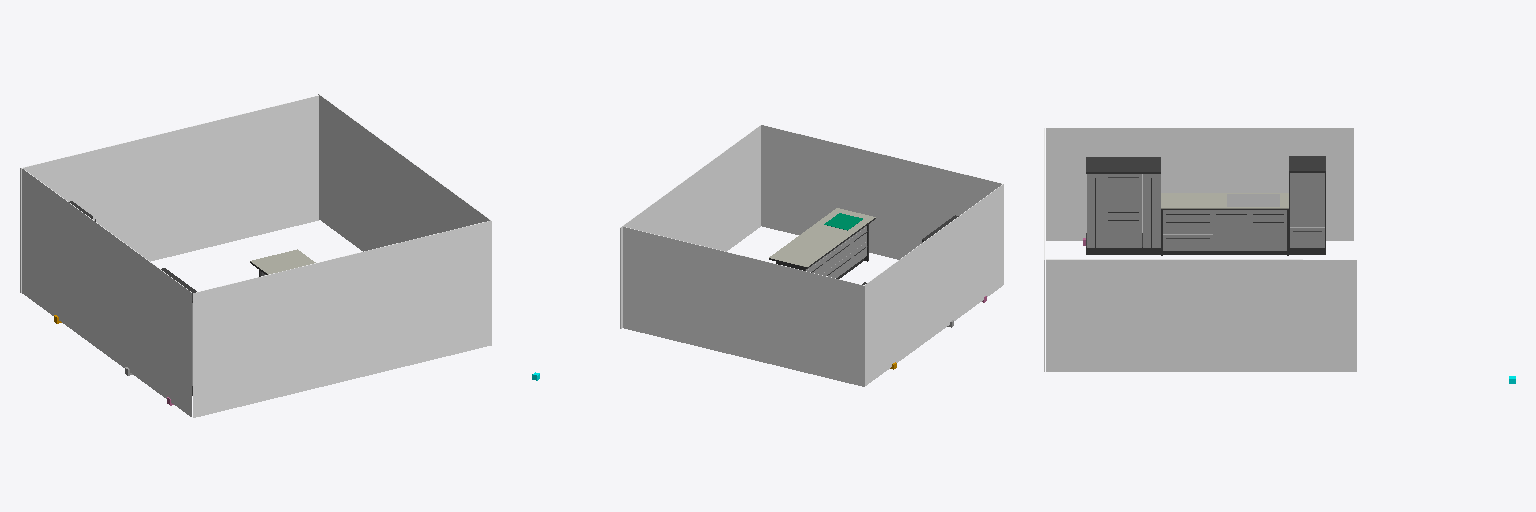
--- Render facts (derived) ---
3 views of the same robot in one strip: view 1: azimuth 30°, elevation 25°; view 2: azimuth 150°, elevation 25°; view 3: azimuth 270°, elevation 25° (orthographic).
Model kitchen with 173 links and 172 joints (1 revolute, 21 prismatic, 150 fixed), rooted at kitchen_link, posed all joints at 0.
Links seen in each view (by area): view 1: kitchen_wall_south, kitchen_wall_north, kitchen_wall_west, kitchen_wall_east_1, white_counter_top_island_link; view 2: kitchen_wall_north, kitchen_wall_south, kitchen_wall_west, kitchen_wall_east_1, white_counter_top_island_link; view 3: kitchen_wall_east_1, kitchen_wall_west, fridge_link, drawer_sink_col2_link, white_counter_top_sink_link, counter_top_oven_link, drawer_oven_left_link, drawer_oven_right_link, drawer_oven_oven_link, drawer_sink_col3_bottom_link, drawer_oven_bottom_link, drawer_sink_col1_bottom_link (+5 smaller).
Link boxes in pixels (<box>): kitchen_wall_south: <box>193,221,491,417</box>; kitchen_wall_north: <box>20,95,318,292</box>; kitchen_wall_west: <box>22,168,191,416</box>; kitchen_wall_east_1: <box>318,94,490,251</box>; white_counter_top_island_link: <box>250,249,315,274</box>; kitchen_wall_north: <box>623,227,864,386</box>; kitchen_wall_south: <box>761,125,1003,284</box>; kitchen_wall_west: <box>864,184,1002,385</box>; kitchen_wall_east_1: <box>620,125,760,328</box>; white_counter_top_island_link: <box>769,208,875,266</box>; kitchen_wall_east_1: <box>1046,259,1356,371</box>; kitchen_wall_west: <box>1046,128,1353,240</box>; fridge_link: <box>1290,173,1324,226</box>; drawer_sink_col2_link: <box>1213,210,1249,250</box>; white_counter_top_sink_link: <box>1161,193,1288,208</box>; counter_top_oven_link: <box>1086,157,1160,173</box>; drawer_oven_left_link: <box>1087,174,1104,247</box>; drawer_oven_right_link: <box>1143,174,1160,247</box>; drawer_oven_oven_link: <box>1105,174,1141,207</box>; drawer_sink_col3_bottom_link: <box>1250,218,1286,250</box>; drawer_oven_bottom_link: <box>1105,216,1141,247</box>; drawer_sink_col1_bottom_link: <box>1163,234,1212,250</box>.
Size in the robot's own frame: 5.39 by 7.58 by 2.05 metres.
Geometry: primitives only (box / cylinder / sphere), no mesh files.

URDF robot description (kitchen):
<?xml version="1.0" ?>
<!-- =================================================================================== -->
<!-- |    This document was autogenerated by xacro from room/kitchen_area.urdf.xml     | -->
<!-- |    EDITING THIS FILE BY HAND IS NOT RECOMMENDED                                 | -->
<!-- =================================================================================== -->
<robot name="kitchen" xmlns:controller="http://playerstage.sourceforge.net/gazebo/xmlschema/#controller" xmlns:interface="http://playerstage.sourceforge.net/gazebo/xmlschema/#interface" xmlns:sensor="http://playerstage.sourceforge.net/gazebo/xmlschema/#sensor" xmlns:xacro="http://www.ros.org/wiki/xacro">
  <material name="KitchenWhite">
    <color rgba="0.75 0.75 0.7 1.0"/>
  </material>
  <material name="KitchenDarkGray">
    <color rgba="0.3 0.3 0.3 1.0"/>
  </material>
  <material name="KitchenLightGray">
    <color rgba="0.7 0.7 0.7 1.0"/>
  </material>
  <material name="KitchenWallWhite">
    <color rgba="1.0 1.0 1.0 1.0"/>
  </material>
  <material name="KitchenSink">
    <texture filename="package://iai_maps/Media/materials/textures/sink.png"/>
  </material>
  <material name="KitchenStove">
    <texture filename="package://iai_maps/Media/materials/textures/stove.png"/>
  </material>
  
  <!-- This is the top level joint /tf frame. -->
  
  <link name="kitchen_link">
  <visual>
     <origin xyz="0 0 0" rpy="0 0 0" />
     <geometry>
       <box size="0.1 0.1 0.1" />
     </geometry>
     <material name="Cyan">
       <color rgba="0 1.0 1.0 1.0"/>
     </material>
   </visual>
  </link>
  
  <joint name="kitchen_link_map_joint" type="fixed">
    <origin rpy="0 0 0" xyz="0 0 0"/>
    <parent link="kitchen_link"/>
    <child link="map"/>
  </joint>
  
  <link name="map">
  <visual>
     <origin xyz="-3.45 -4.35 0" rpy="0 0 -3.1415" />
     <geometry>
       <box size="0.1 0.1 0.1" />
     </geometry>
     <material name="Cyan">
       <color rgba="0 1.0 1.0 1.0"/>
     </material>
   </visual>
  </link>
  
  <!-- Finally, the 5 main blocks of the kitchen -->
  <joint name="island_block_stove_joint" type="fixed">
    <origin rpy="0 0 0" xyz="0 0 0"/>
    <parent link="island_block_link"/>
    <child link="stove_link"/>
  </joint>
  <link name="stove_link">
    <inertial>
      <mass value="1.0"/>
      <inertia ixx="0.0270770833333" ixy="0" ixz="0" iyy="0.0479083333333" iyz="0" izz="0.0208354166667"/>
    </inertial>
    <visual>
      <origin rpy="0 0 0" xyz=".30 1.895 .8525"/>
      <geometry>
        <box size=".50 .57 0.005"/>
      </geometry>
      <material name="KitchenStove"/>
    </visual>
    <collision>
      <origin rpy="0 0 0" xyz=".30 1.895 .8525"/>
      <geometry>
        <box size=".50 .57 0.005"/>
      </geometry>
    </collision>
  </link>
  <gazebo reference="stove_link">
    <material value="Ias/KitchenStove"/>
  </gazebo>
  <joint name="island_block_counter_side_island_left_joint" type="fixed">
    <origin rpy="0 0 0" xyz="0.3 0.015 0.41"/>
    <parent link="island_block_link"/>
    <child link="counter_side_island_left_link"/>
  </joint>
  <link name="counter_side_island_left_link">
    <inertial>
      <mass value="2.0"/>
      <inertia ixx="0.112216666667" ixy="0" ixz="0" iyy="0.06015" iyz="0" izz="0.172066666667"/>
    </inertial>
    <visual>
      <origin rpy="0 0 0" xyz="0 0 0"/>
      <geometry>
        <box size="0.6 0.03 0.82"/>
      </geometry>
      <material name="KitchenDarkGray"/>
    </visual>
    <collision>
      <origin rpy="0 0 0" xyz="0 0 0"/>
      <geometry>
        <box size="0.6 0.03 0.82"/>
      </geometry>
    </collision>
  </link>
  <gazebo reference="counter_side_island_left_link">
    <material value="Ias/KitchenDarkGray"/>
  </gazebo>
  <joint name="island_block_counter_side_island_right_joint" type="fixed">
    <origin rpy="0 0 0" xyz="0.3 2.245 0.41"/>
    <parent link="island_block_link"/>
    <child link="counter_side_island_right_link"/>
  </joint>
  <link name="counter_side_island_right_link">
    <inertial>
      <mass value="2.0"/>
      <inertia ixx="0.112216666667" ixy="0" ixz="0" iyy="0.06015" iyz="0" izz="0.172066666667"/>
    </inertial>
    <visual>
      <origin rpy="0 0 0" xyz="0 0 0"/>
      <geometry>
        <box size="0.6 0.03 0.82"/>
      </geometry>
      <material name="KitchenDarkGray"/>
    </visual>
    <collision>
      <origin rpy="0 0 0" xyz="0 0 0"/>
      <geometry>
        <box size="0.6 0.03 0.82"/>
      </geometry>
    </collision>
  </link>
  <gazebo reference="counter_side_island_right_link">
    <material value="Ias/KitchenDarkGray"/>
  </gazebo>
  <joint name="island_block_counter_side_island_back_joint" type="fixed">
    <origin rpy="0 0 0" xyz="0.01 1.13 0.41"/>
    <parent link="island_block_link"/>
    <child link="counter_side_island_back_link"/>
  </joint>
  <link name="counter_side_island_back_link">
    <inertial>
      <mass value="2.0"/>
      <inertia ixx="0.918733333333" ixy="0" ixz="0" iyy="0.806733333333" iyz="0" izz="0.112133333333"/>
    </inertial>
    <visual>
      <origin rpy="0 0 0" xyz="0 0 0"/>
      <geometry>
        <box size="0.02 2.2 0.82"/>
      </geometry>
      <material name="KitchenDarkGray"/>
    </visual>
    <collision>
      <origin rpy="0 0 0" xyz="0 0 0"/>
      <geometry>
        <box size="0.02 2.2 0.82"/>
      </geometry>
    </collision>
  </link>
  <gazebo reference="counter_side_island_back_link">
    <material value="Ias/KitchenDarkGray"/>
  </gazebo>
  <joint name="island_block_counter_top_island_joint" type="fixed">
    <origin rpy="0 0 0" xyz="0.3 1.125 0.835"/>
    <parent link="island_block_link"/>
    <child link="counter_top_island_link"/>
  </joint>
  <link name="counter_top_island_link">
    <inertial>
      <mass value="2.0"/>
      <inertia ixx="1.00056666667" ixy="0" ixz="0" iyy="1.10708333333" iyz="0" izz="0.106816666667"/>
    </inertial>
    <visual>
      <origin rpy="0 0 0" xyz="0 0 0"/>
      <geometry>
        <box size="0.8 2.45 0.03"/>
      </geometry>
      <material name="KitchenDarkGray"/>
    </visual>
    <collision>
      <origin rpy="0 0 0" xyz="0 0 0"/>
      <geometry>
        <box size="0.8 2.45 0.03"/>
      </geometry>
    </collision>
  </link>
  <gazebo reference="counter_top_island_link">
    <kp>100000</kp>
    <kd>1000000</kd>
    <mu1>50000</mu1>
    <mu2>50000</mu2>
    <material value="Ias/KitchenDarkGray"/>
  </gazebo>
  <joint name="island_block_white_counter_top_island_joint" type="fixed">
    <origin rpy="0 0 0" xyz="0.3 1.125 0.851"/>
    <parent link="island_block_link"/>
    <child link="white_counter_top_island_link"/>
  </joint>
  <link name="white_counter_top_island_link">
    <inertial>
      <mass value="2.0"/>
      <inertia ixx="1.00041733333" ixy="0" ixz="0" iyy="1.10708333333" iyz="0" izz="0.106667333333"/>
    </inertial>
    <visual>
      <origin rpy="0 0 0" xyz="0 0 0"/>
      <geometry>
        <box size="0.8 2.45 0.002"/>
      </geometry>
      <material name="KitchenWhite"/>
    </visual>
    <collision>
      <origin rpy="0 0 0" xyz="0 0 0"/>
      <geometry>
        <box size="0.8 2.45 0.002"/>
      </geometry>
    </collision>
  </link>
  <gazebo reference="white_counter_top_island_link">
    <kp>100000</kp>
    <kd>1000000</kd>
    <mu1>50000</mu1>
    <mu2>50000</mu2>
    <material value="Ias/KitchenWhite"/>
  </gazebo>
  <joint name="island_block_drawer_island_col1_bottom_fixed_joint" type="fixed">
    <origin rpy="0 0 0" xyz="0.57 0.33 0.245"/>
    <parent link="island_block_link"/>
    <child link="drawer_island_col1_bottom_fixed_link"/>
  </joint>
  <link name="drawer_island_col1_bottom_fixed_link">
    <inertial>
      <mass value="1"/>
      <inertia ixx="4e-07" ixy="0" ixz="0" iyy="4e-07" iyz="0" izz="4e-07"/>
    </inertial>
  </link>
  <joint name="island_block_drawer_island_col1_bottom_joint" type="prismatic">
    <origin rpy="0 0 0" xyz="0 0 0"/>
    <parent link="drawer_island_col1_bottom_fixed_link"/>
    <child link="drawer_island_col1_bottom_link"/>
    <axis xyz="0.999 0 0.044"/>
    <!-- the axis needs to be slightly tilted so that the drawers would stay closed in Gazebo-->
    <limit effort="300" lower="0" upper="0.48" velocity="10"/>
  </joint>
  <gazebo reference="island_block_drawer_island_col1_bottom_joint">
    <erp>0.8</erp>
    <cfm>0.0000001</cfm>
    <stopKp>1000000.0</stopKp>
    <stopKd>1.0</stopKd>
  </gazebo>
  <link name="drawer_island_col1_bottom_link">
    <inertial>
      <mass value="1.0"/>
      <inertia ixx="0.0370083333333" ixy="0" ixz="0" iyy="0.0300333333333" iyz="0" izz="0.00704166666667"/>
    </inertial>
    <visual>
      <origin rpy="0 0 0" xyz="0 0 0"/>
      <geometry>
        <box size="0.02 0.595 0.285"/>
      </geometry>
      <material name="KitchenLightGray"/>
    </visual>
    <collision>
      <origin rpy="0 0 0" xyz="0 0 0"/>
      <geometry>
        <box size="0.02 0.6 0.29"/>
      </geometry>
    </collision>
  </link>
  <gazebo reference="drawer_island_col1_bottom_link">
    <material value="Ias/KitchenLightGray"/>
  </gazebo>
  <joint name="drawer_island_col1_bottom_left_fixed_joint" type="fixed">
    <origin rpy="0 0 0" xyz="0 0 0"/>
    <parent link="drawer_island_col1_bottom_link"/>
    <child link="drawer_island_col1_bottom_left_link"/>
  </joint>
  <link name="drawer_island_col1_bottom_left_link">
    <inertial>
      <mass value="1.0"/>
      <inertia ixx="0.00483333333333" ixy="0" ixz="0" iyy="0.0243333333333" iyz="0" izz="0.0291"/>
    </inertial>
    <visual>
      <origin rpy="0 0 0" xyz="-0.27 -0.24 0"/>
      <geometry>
        <box size="0.54 0.02 0.24"/>
      </geometry>
      <material name="KitchenDarkGray"/>
    </visual>
    <collision>
      <origin rpy="0 0 0" xyz="-0.27 -0.24 0"/>
      <geometry>
        <box size="0.54 0.02 0.24"/>
      </geometry>
    </collision>
  </link>
  <gazebo reference="drawer_island_col1_bottom_left_link">
    <material value="Ias/KitchenLightGray"/>
  </gazebo>
  <joint name="drawer_island_col1_bottom_right_fixed_joint" type="fixed">
    <origin rpy="0 0 0" xyz="0 0 0"/>
    <parent link="drawer_island_col1_bottom_link"/>
    <child link="drawer_island_col1_bottom_right_link"/>
  </joint>
  <link name="drawer_island_col1_bottom_right_link">
    <inertial>
      <mass value="1.0"/>
      <inertia ixx="0.00483333333333" ixy="0" ixz="0" iyy="0.0243333333333" iyz="0" izz="0.0291"/>
    </inertial>
    <visual>
      <origin rpy="0 0 0" xyz="-0.27 0.24 0"/>
      <geometry>
        <box size="0.54 0.02 0.24"/>
      </geometry>
      <material name="KitchenDarkGray"/>
    </visual>
    <collision>
      <origin rpy="0 0 0" xyz="-0.27 0.24 0"/>
      <geometry>
        <box size="0.54 0.02 0.24"/>
      </geometry>
    </collision>
  </link>
  <gazebo reference="drawer_island_col1_bottom_right_link">
    <material value="Ias/KitchenLightGray"/>
  </gazebo>
  <joint name="drawer_island_col1_bottom_back_fixed_joint" type="fixed">
    <origin rpy="0 0 0" xyz="0 0 0"/>
    <parent link="drawer_island_col1_bottom_link"/>
    <child link="drawer_island_col1_bottom_back_link"/>
  </joint>
  <link name="drawer_island_col1_bottom_back_link">
    <inertial>
      <mass value="1.0"/>
      <inertia ixx="0.0256333333333" ixy="0" ixz="0" iyy="0.0208666666667" iyz="0" izz="0.00483333333333"/>
    </inertial>
    <visual>
      <origin rpy="0 0 0" xyz="-0.54 0 0"/>
      <geometry>
        <box size="0.02 0.5 0.24"/>
      </geometry>
      <material name="KitchenDarkGray"/>
    </visual>
    <collision>
      <origin rpy="0 0 0" xyz="-0.54 0 0"/>
      <geometry>
        <box size="0.02 0.5 0.24"/>
      </geometry>
    </collision>
  </link>
  <gazebo reference="drawer_island_col1_bottom_back_link">
    <material value="Ias/KitchenLightGray"/>
  </gazebo>
  <joint name="drawer_island_col1_bottom_bottom_fixed_joint" type="fixed">
    <origin rpy="0 0 0" xyz="0 0 0"/>
    <parent link="drawer_island_col1_bottom_link"/>
    <child link="drawer_island_col1_bottom_bottom_link"/>
  </joint>
  <link name="drawer_island_col1_bottom_bottom_link">
    <inertial>
      <mass value="1.0"/>
      <inertia ixx="0.0208666666667" ixy="0" ixz="0" iyy="0.0451333333333" iyz="0" izz="0.0243333333333"/>
    </inertial>
    <visual>
      <origin rpy="0 0 0" xyz="-0.27 0 -0.11"/>
      <geometry>
        <box size="0.54 0.5 0.02"/>
      </geometry>
      <material name="KitchenDarkGray"/>
    </visual>
    <collision>
      <origin rpy="0 0 0" xyz="-0.27 0 -0.11"/>
      <geometry>
        <box size="0.54 0.5 0.02"/>
      </geometry>
    </collision>
  </link>
  <gazebo reference="drawer_island_col1_bottom_bottom_link">
    <material value="Ias/KitchenLightGray"/>
  </gazebo>
  <joint name="drawer_island_col1_bottom_handle_drawer_island_col1_bottom_joint" type="fixed">
    <origin rpy="0 0 0" xyz="0.0625 0.0 0.0925"/>
    <parent link="drawer_island_col1_bottom_link"/>
    <child link="handle_drawer_island_col1_bottom_link"/>
  </joint>
  <link name="handle_drawer_island_col1_bottom_link">
    <inertial>
      <mass value="0.1"/>
      <inertia ixx="0.00212604166667" ixy="0" ixz="0" iyy="0.00212604166667" iyz="0" izz="1.66666666667e-06"/>
    </inertial>
    <visual>
      <origin rpy="0 0 0" xyz="0 0 0"/>
      <geometry>
        <box size="0.01 0.505 0.01"/>
      </geometry>
      <material name="KitchenDarkGray"/>
    </visual>
    <collision>
      <origin rpy="0 0 0" xyz="0 0 0"/>
      <geometry>
        <box size="0.015 0.51 0.015"/>
      </geometry>
    </collision>
  </link>
  <gazebo reference="handle_drawer_island_col1_bottom_link">
    <material value="Ias/KitchenDarkGray"/>
  </gazebo>
  <joint name="island_block_drawer_island_col1_center_fixed_joint" type="fixed">
    <origin rpy="0 0 0" xyz="0.57 0.33 0.535"/>
    <parent link="island_block_link"/>
    <child link="drawer_island_col1_center_fixed_link"/>
  </joint>
  <link name="drawer_island_col1_center_fixed_link">
    <inertial>
      <mass value="1"/>
      <inertia ixx="4e-07" ixy="0" ixz="0" iyy="4e-07" iyz="0" izz="4e-07"/>
    </inertial>
  </link>
  <joint name="island_block_drawer_island_col1_center_joint" type="prismatic">
    <origin rpy="0 0 0" xyz="0 0 0"/>
    <parent link="drawer_island_col1_center_fixed_link"/>
    <child link="drawer_island_col1_center_link"/>
    <axis xyz="0.999 0 0.044"/>
    <!-- the axis needs to be slightly tilted so that the drawers would stay closed in Gazebo-->
    <limit effort="300" lower="0" upper="0.48" velocity="10"/>
  </joint>
  <gazebo reference="island_block_drawer_island_col1_center_joint">
    <erp>0.8</erp>
    <cfm>0.0000001</cfm>
    <stopKp>1000000.0</stopKp>
    <stopKd>1.0</stopKd>
  </gazebo>
  <link name="drawer_island_col1_center_link">
    <inertial>
      <mass value="1.0"/>
      <inertia ixx="0.0370083333333" ixy="0" ixz="0" iyy="0.0300333333333" iyz="0" izz="0.00704166666667"/>
    </inertial>
    <visual>
      <origin rpy="0 0 0" xyz="0 0 0"/>
      <geometry>
        <box size="0.02 0.595 0.285"/>
      </geometry>
      <material name="KitchenLightGray"/>
    </visual>
    <collision>
      <origin rpy="0 0 0" xyz="0 0 0"/>
      <geometry>
        <box size="0.02 0.6 0.29"/>
      </geometry>
    </collision>
  </link>
  <gazebo reference="drawer_island_col1_center_link">
    <material value="Ias/KitchenLightGray"/>
  </gazebo>
  <joint name="drawer_island_col1_center_left_fixed_joint" type="fixed">
    <origin rpy="0 0 0" xyz="0 0 0"/>
    <parent link="drawer_island_col1_center_link"/>
    <child link="drawer_island_col1_center_left_link"/>
  </joint>
  <link name="drawer_island_col1_center_left_link">
    <inertial>
      <mass value="1.0"/>
      <inertia ixx="0.00483333333333" ixy="0" ixz="0" iyy="0.0243333333333" iyz="0" izz="0.0291"/>
    </inertial>
    <visual>
      <origin rpy="0 0 0" xyz="-0.27 -0.24 0"/>
      <geometry>
        <box size="0.54 0.02 0.24"/>
      </geometry>
      <material name="KitchenDarkGray"/>
    </visual>
    <collision>
      <origin rpy="0 0 0" xyz="-0.27 -0.24 0"/>
      <geometry>
        <box size="0.54 0.02 0.24"/>
      </geometry>
    </collision>
  </link>
  <gazebo reference="drawer_island_col1_center_left_link">
    <material value="Ias/KitchenLightGray"/>
  </gazebo>
  <joint name="drawer_island_col1_center_right_fixed_joint" type="fixed">
    <origin rpy="0 0 0" xyz="0 0 0"/>
    <parent link="drawer_island_col1_center_link"/>
    <child link="drawer_island_col1_center_right_link"/>
  </joint>
  <link name="drawer_island_col1_center_right_link">
    <inertial>
      <mass value="1.0"/>
      <inertia ixx="0.00483333333333" ixy="0" ixz="0" iyy="0.0243333333333" iyz="0" izz="0.0291"/>
    </inertial>
    <visual>
      <origin rpy="0 0 0" xyz="-0.27 0.24 0"/>
      <geometry>
        <box size="0.54 0.02 0.24"/>
      </geometry>
      <material name="KitchenDarkGray"/>
    </visual>
    <collision>
      <origin rpy="0 0 0" xyz="-0.27 0.24 0"/>
      <geometry>
        <box size="0.54 0.02 0.24"/>
      </geometry>
    </collision>
  </link>
  <gazebo reference="drawer_island_col1_center_right_link">
    <material value="Ias/KitchenLightGray"/>
  </gazebo>
  <joint name="drawer_island_col1_center_back_fixed_joint" type="fixed">
    <origin rpy="0 0 0" xyz="0 0 0"/>
    <parent link="drawer_island_col1_center_link"/>
    <child link="drawer_island_col1_center_back_link"/>
  </joint>
  <link name="drawer_island_col1_center_back_link">
    <inertial>
      <mass value="1.0"/>
      <inertia ixx="0.0256333333333" ixy="0" ixz="0" iyy="0.0208666666667" iyz="0" izz="0.00483333333333"/>
    </inertial>
    <visual>
      <origin rpy="0 0 0" xyz="-0.54 0 0"/>
      <geometry>
        <box size="0.02 0.5 0.24"/>
      </geometry>
      <material name="KitchenDarkGray"/>
    </visual>
    <collision>
      <origin rpy="0 0 0" xyz="-0.54 0 0"/>
      <geometry>
        <box size="0.02 0.5 0.24"/>
      </geometry>
    </collision>
  </link>
  <gazebo reference="drawer_island_col1_center_back_link">
    <material value="Ias/KitchenLightGray"/>
  </gazebo>
  <joint name="drawer_island_col1_center_bottom_fixed_joint" type="fixed">
    <origin rpy="0 0 0" xyz="0 0 0"/>
    <parent link="drawer_island_col1_center_link"/>
    <child link="drawer_island_col1_center_bottom_link"/>
  </joint>
  <link name="drawer_island_col1_center_bottom_link">
    <inertial>
      <mass value="1.0"/>
      <inertia ixx="0.0208666666667" ixy="0" ixz="0" iyy="0.0451333333333" iyz="0" izz="0.0243333333333"/>
    </inertial>
    <visual>
      <origin rpy="0 0 0" xyz="-0.27 0 -0.11"/>
      <geometry>
        <box size="0.54 0.5 0.02"/>
      </geometry>
      <material name="KitchenDarkGray"/>
    </visual>
    <collision>
      <origin rpy="0 0 0" xyz="-0.27 0 -0.11"/>
      <geometry>
        <box size="0.54 0.5 0.02"/>
      </geometry>
    </collision>
  </link>
  <gazebo reference="drawer_island_col1_center_bottom_link">
    <material value="Ias/KitchenLightGray"/>
  </gazebo>
  <joint name="drawer_island_col1_center_handle_drawer_island_col1_center_joint" type="fixed">
    <origin rpy="0 0 0" xyz="0.0625 0.0 0.0925"/>
    <parent link="drawer_island_col1_center_link"/>
    <child link="handle_drawer_island_col1_center_link"/>
  </joint>
  <link name="handle_drawer_island_col1_center_link">
    <inertial>
      <mass value="0.1"/>
      <inertia ixx="0.00212604166667" ixy="0" ixz="0" iyy="0.00212604166667" iyz="0" izz="1.66666666667e-06"/>
    </inertial>
    <visual>
      <origin rpy="0 0 0" xyz="0 0 0"/>
      <geometry>
        <box size="0.01 0.505 0.01"/>
      </geometry>
      <material name="KitchenDarkGray"/>
    </visual>
    <collision>
      <origin rpy="0 0 0" xyz="0 0 0"/>
      <geometry>
        <box size="0.015 0.51 0.015"/>
      </geometry>
    </collision>
  </link>
  <gazebo reference="handle_drawer_island_col1_center_link">
    <material value="Ias/KitchenDarkGray"/>
  </gazebo>
  <joint name="island_block_drawer_island_col1_top_fixed_joint" type="fixed">
    <origin rpy="0 0 0" xyz="0.57 0.33 0.75"/>
    <parent link="island_block_link"/>
    <child link="drawer_island_col1_top_fixed_link"/>
  </joint>
  <link name="drawer_island_col1_top_fixed_link">
    <inertial>
      <mass value="1"/>
      <inertia ixx="4e-07" ixy="0" ixz="0" iyy="4e-07" iyz="0" izz="4e-07"/>
    </inertial>
  </link>
  <joint name="island_block_drawer_island_col1_top_joint" type="prismatic">
    <origin rpy="0 0 0" xyz="0 0 0"/>
    <parent link="drawer_island_col1_top_fixed_link"/>
    <child link="drawer_island_col1_top_link"/>
    <axis xyz="0.999 0 0.044"/>
    <!-- the axis needs to be slightly tilted so that the drawers would stay closed in Gazebo-->
    <limit effort="300" lower="0" upper="0.48" velocity="10"/>
  </joint>
  <gazebo reference="island_block_drawer_island_col1_top_joint">
    <erp>0.8</erp>
    <cfm>0.0000001</cfm>
    <stopKp>1000000.0</stopKp>
    <stopKd>1.0</stopKd>
  </gazebo>
  <link name="drawer_island_col1_top_link">
    <inertial>
      <mass value="1.0"/>
      <inertia ixx="0.0316333333333" ixy="0" ixz="0" iyy="0.0300333333333" iyz="0" izz="0.00166666666667"/>
    </inertial>
    <visual>
      <origin rpy="0 0 0" xyz="0 0 0"/>
      <geometry>
        <box size="0.02 0.595 0.135"/>
      </geometry>
      <material name="KitchenLightGray"/>
    </visual>
    <collision>
      <origin rpy="0 0 0" xyz="0 0 0"/>
      <geometry>
        <box size="0.02 0.6 0.14"/>
      </geometry>
    </collision>
  </link>
  <gazebo reference="drawer_island_col1_top_link">
    <material value="Ias/KitchenLightGray"/>
  </gazebo>
  <joint name="drawer_island_col1_top_left_fixed_joint" type="fixed">
    <origin rpy="0 0 0" xyz="0 0 0"/>
    <parent link="drawer_island_col1_top_link"/>
    <child link="drawer_island_col1_top_left_link"/>
  </joint>
  <link name="drawer_island_col1_top_left_link">
    <inertial>
      <mass value="1.0"/>
      <inertia ixx="0.000708333333333" ixy="0" ixz="0" iyy="0.0243333333333" iyz="0" izz="0.024975"/>
    </inertial>
    <visual>
      <origin rpy="0 0 0" xyz="-0.27 -0.24 0"/>
      <geometry>
        <box size="0.54 0.02 0.09"/>
      </geometry>
      <material name="KitchenDarkGray"/>
    </visual>
    <collision>
      <origin rpy="0 0 0" xyz="-0.27 -0.24 0"/>
      <geometry>
        <box size="0.54 0.02 0.09"/>
      </geometry>
    </collision>
  </link>
  <gazebo reference="drawer_island_col1_top_left_link">
    <material value="Ias/KitchenLightGray"/>
  </gazebo>
  <joint name="drawer_island_col1_top_right_fixed_joint" type="fixed">
    <origin rpy="0 0 0" xyz="0 0 0"/>
    <parent link="drawer_island_col1_top_link"/>
    <child link="drawer_island_col1_top_right_link"/>
  </joint>
  <link name="drawer_island_col1_top_right_link">
    <inertial>
      <mass value="1.0"/>
      <inertia ixx="0.000708333333333" ixy="0" ixz="0" iyy="0.0243333333333" iyz="0" izz="0.024975"/>
    </inertial>
    <visual>
      <origin rpy="0 0 0" xyz="-0.27 0.24 0"/>
      <geometry>
        <box size="0.54 0.02 0.09"/>
      </geometry>
      <material name="KitchenDarkGray"/>
    </visual>
    <collision>
      <origin rpy="0 0 0" xyz="-0.27 0.24 0"/>
      <geometry>
        <box size="0.54 0.02 0.09"/>
      </geometry>
    </collision>
  </link>
  <gazebo reference="drawer_island_col1_top_right_link">
    <material value="Ias/KitchenLightGray"/>
  </gazebo>
  <joint name="drawer_island_col1_top_back_fixed_joint" type="fixed">
    <origin rpy="0 0 0" xyz="0 0 0"/>
    <parent link="drawer_island_col1_top_link"/>
    <child link="drawer_island_col1_top_back_link"/>
  </joint>
  <link name="drawer_island_col1_top_back_link">
    <inertial>
      <mass value="1.0"/>
      <inertia ixx="0.0215083333333" ixy="0" ixz="0" iyy="0.0208666666667" iyz="0" izz="0.000708333333333"/>
    </inertial>
    <visual>
      <origin rpy="0 0 0" xyz="-0.54 0 0"/>
      <geometry>
        <box size="0.02 0.5 0.09"/>
      </geometry>
      <material name="KitchenDarkGray"/>
    </visual>
    <collision>
      <origin rpy="0 0 0" xyz="-0.54 0 0"/>
      <geometry>
        <box size="0.02 0.5 0.09"/>
      </geometry>
    </collision>
  </link>
  <gazebo reference="drawer_island_col1_top_back_link">
    <material value="Ias/KitchenLightGray"/>
  </gazebo>
  <joint name="drawer_island_col1_top_bottom_fixed_joint" type="fixed">
    <origin rpy="0 0 0" xyz="0 0 0"/>
    <parent link="drawer_island_col1_top_link"/>
    <child link="drawer_island_col1_top_bottom_link"/>
  </joint>
  <link name="drawer_island_col1_top_bottom_link">
    <inertial>
      <mass value="1.0"/>
      <inertia ixx="0.0208666666667" ixy="0" ixz="0" iyy="0.0451333333333" iyz="0" izz="0.0243333333333"/>
    </inertial>
    <visual>
      <origin rpy="0 0 0" xyz="-0.27 0 -0.035"/>
      <geometry>
        <box size="0.54 0.5 0.02"/>
      </geometry>
      <material name="KitchenDarkGray"/>
    </visual>
    <collision>
      <origin rpy="0 0 0" xyz="-0.27 0 -0.035"/>
      <geometry>
        <box size="0.54 0.5 0.02"/>
      </geometry>
    </collision>
  </link>
  <gazebo reference="drawer_island_col1_top_bottom_link">
    <material value="Ias/KitchenLightGray"/>
  </gazebo>
  <joint name="drawer_island_col1_top_handle_drawer_island_col1_top_joint" type="fixed">
    <origin rpy="0 0 0" xyz="0.0625 0.0 0.0175"/>
    <parent link="drawer_island_col1_top_link"/>
    <child link="handle_drawer_island_col1_top_link"/>
  </joint>
  <link name="handle_drawer_island_col1_top_link">
    <inertial>
      <mass value="0.1"/>
      <inertia ixx="0.00212604166667" ixy="0" ixz="0" iyy="0.00212604166667" iyz="0" izz="1.66666666667e-06"/>
    </inertial>
    <visual>
      <origin rpy="0 0 0" xyz="0 0 0"/>
      <geometry>
        <box size="0.01 0.505 0.01"/>
      </geometry>
      <material name="KitchenDarkGray"/>
    </visual>
    <collision>
      <origin rpy="0 0 0" xyz="0 0 0"/>
      <geometry>
        <box size="0.015 0.51 0.015"/>
      </geometry>
    </collision>
  </link>
  <gazebo reference="handle_drawer_island_col1_top_link">
    <material value="Ias/KitchenDarkGray"/>
  </gazebo>
  <joint name="island_block_drawer_island_col2_bottom_fixed_joint" type="fixed">
    <origin rpy="0 0 0" xyz="0.57 1.13 0.245"/>
    <parent link="island_block_link"/>
    <child link="drawer_island_col2_bottom_fixed_link"/>
  </joint>
  <link name="drawer_island_col2_bottom_fixed_link">
    <inertial>
      <mass value="1"/>
      <inertia ixx="4e-07" ixy="0" ixz="0" iyy="4e-07" iyz="0" izz="4e-07"/>
    </inertial>
  </link>
  <joint name="island_block_drawer_island_col2_bottom_joint" type="prismatic">
    <origin rpy="0 0 0" xyz="0 0 0"/>
    <parent link="drawer_island_col2_bottom_fixed_link"/>
    <child link="drawer_island_col2_bottom_link"/>
    <axis xyz="0.999 0 0.044"/>
    <!-- the axis needs to be slightly tilted so that the drawers would stay closed in Gazebo-->
    <limit effort="300" lower="0" upper="0.48" velocity="10"/>
  </joint>
  <gazebo reference="island_block_drawer_island_col2_bottom_joint">
    <erp>0.8</erp>
    <cfm>0.0000001</cfm>
    <stopKp>1000000.0</stopKp>
    <stopKd>1.0</stopKd>
  </gazebo>
  <link name="drawer_island_col2_bottom_link">
    <inertial>
      <mass value="1.0"/>
      <inertia ixx="0.0903416666667" ixy="0" ixz="0" iyy="0.0833666666667" iyz="0" izz="0.00704166666667"/>
    </inertial>
    <visual>
      <origin rpy="0 0 0" xyz="0 0 0"/>
      <geometry>
        <box size="0.02 0.995 0.285"/>
      </geometry>
      <material name="KitchenLightGray"/>
    </visual>
    <collision>
      <origin rpy="0 0 0" xyz="0 0 0"/>
      <geometry>
        <box size="0.02 1.0 0.29"/>
      </geometry>
    </collision>
  </link>
  <gazebo reference="drawer_island_col2_bottom_link">
    <material value="Ias/KitchenLightGray"/>
  </gazebo>
  <joint name="drawer_island_col2_bottom_left_fixed_joint" type="fixed">
    <origin rpy="0 0 0" xyz="0 0 0"/>
    <parent link="drawer_island_col2_bottom_link"/>
    <child link="drawer_island_col2_bottom_left_link"/>
  </joint>
  <link name="drawer_island_col2_bottom_left_link">
    <inertial>
      <mass value="1.0"/>
      <inertia ixx="0.00483333333333" ixy="0" ixz="0" iyy="0.0243333333333" iyz="0" izz="0.0291"/>
    </inertial>
    <visual>
      <origin rpy="0 0 0" xyz="-0.27 -0.44 0"/>
      <geometry>
        <box size="0.54 0.02 0.24"/>
      </geometry>
      <material name="KitchenDarkGray"/>
    </visual>
    <collision>
      <origin rpy="0 0 0" xyz="-0.27 -0.44 0"/>
      <geometry>
        <box size="0.54 0.02 0.24"/>
      </geometry>
    </collision>
  </link>
  <gazebo reference="drawer_island_col2_bottom_left_link">
    <material value="Ias/KitchenLightGray"/>
  </gazebo>
  <joint name="drawer_island_col2_bottom_right_fixed_joint" type="fixed">
    <origin rpy="0 0 0" xyz="0 0 0"/>
    <parent link="drawer_island_col2_bottom_link"/>
    <child link="drawer_island_col2_bottom_right_link"/>
  </joint>
  <link name="drawer_island_col2_bottom_right_link">
    <inertial>
      <mass value="1.0"/>
      <inertia ixx="0.00483333333333" ixy="0" ixz="0" iyy="0.0243333333333" iyz="0" izz="0.0291"/>
    </inertial>
    <visual>
      <origin rpy="0 0 0" xyz="-0.27 0.44 0"/>
      <geometry>
        <box size="0.54 0.02 0.24"/>
      </geometry>
      <material name="KitchenDarkGray"/>
    </visual>
    <collision>
      <origin rpy="0 0 0" xyz="-0.27 0.44 0"/>
      <geometry>
        <box size="0.54 0.02 0.24"/>
      </geometry>
    </collision>
  </link>
  <gazebo reference="drawer_island_col2_bottom_right_link">
    <material value="Ias/KitchenLightGray"/>
  </gazebo>
  <joint name="drawer_island_col2_bottom_back_fixed_joint" type="fixed">
    <origin rpy="0 0 0" xyz="0 0 0"/>
    <parent link="drawer_island_col2_bottom_link"/>
    <child link="drawer_island_col2_bottom_back_link"/>
  </joint>
  <link name="drawer_island_col2_bottom_back_link">
    <inertial>
      <mass value="1.0"/>
      <inertia ixx="0.0723" ixy="0" ixz="0" iyy="0.0675333333333" iyz="0" izz="0.00483333333333"/>
    </inertial>
    <visual>
      <origin rpy="0 0 0" xyz="-0.54 0 0"/>
      <geometry>
        <box size="0.02 0.9 0.24"/>
      </geometry>
      <material name="KitchenDarkGray"/>
    </visual>
    <collision>
      <origin rpy="0 0 0" xyz="-0.54 0 0"/>
      <geometry>
        <box size="0.02 0.9 0.24"/>
      </geometry>
    </collision>
  </link>
  <gazebo reference="drawer_island_col2_bottom_back_link">
    <material value="Ias/KitchenLightGray"/>
  </gazebo>
  <joint name="drawer_island_col2_bottom_bottom_fixed_joint" type="fixed">
    <origin rpy="0 0 0" xyz="0 0 0"/>
    <parent link="drawer_island_col2_bottom_link"/>
    <child link="drawer_island_col2_bottom_bottom_link"/>
  </joint>
  <link name="drawer_island_col2_bottom_bottom_link">
    <inertial>
      <mass value="1.0"/>
      <inertia ixx="0.0675333333333" ixy="0" ixz="0" iyy="0.0918" iyz="0" izz="0.0243333333333"/>
    </inertial>
    <visual>
      <origin rpy="0 0 0" xyz="-0.27 0 -0.11"/>
      <geometry>
        <box size="0.54 0.9 0.02"/>
      </geometry>
      <material name="KitchenDarkGray"/>
    </visual>
    <collision>
      <origin rpy="0 0 0" xyz="-0.27 0 -0.11"/>
      <geometry>
        <box size="0.54 0.9 0.02"/>
      </geometry>
    </collision>
  </link>
  <gazebo reference="drawer_island_col2_bottom_bottom_link">
    <material value="Ias/KitchenLightGray"/>
  </gazebo>
  <joint name="drawer_island_col2_bottom_handle_drawer_island_col2_bottom_joint" type="fixed">
    <origin rpy="0 0 0" xyz="0.0625 0.0 0.0925"/>
    <parent link="drawer_island_col2_bottom_link"/>
    <child link="handle_drawer_island_col2_bottom_link"/>
  </joint>
  <link name="handle_drawer_island_col2_bottom_link">
    <inertial>
      <mass value="0.1"/>
      <inertia ixx="0.00682604166667" ixy="0" ixz="0" iyy="0.00682604166667" iyz="0" izz="1.66666666667e-06"/>
    </inertial>
    <visual>
      <origin rpy="0 0 0" xyz="0 0 0"/>
      <geometry>
        <box size="0.01 0.905 0.01"/>
      </geometry>
      <material name="KitchenDarkGray"/>
    </visual>
    <collision>
      <origin rpy="0 0 0" xyz="0 0 0"/>
      <geometry>
        <box size="0.015 0.91 0.015"/>
      </geometry>
    </collision>
  </link>
  <gazebo reference="handle_drawer_island_col2_bottom_link">
    <material value="Ias/KitchenDarkGray"/>
  </gazebo>
  <joint name="island_block_drawer_island_col2_center_fixed_joint" type="fixed">
    <origin rpy="0 0 0" xyz="0.57 1.13 0.535"/>
    <parent link="island_block_link"/>
    <child link="drawer_island_col2_center_fixed_link"/>
  </joint>
  <link name="drawer_island_col2_center_fixed_link">
    <inertial>
      <mass value="1"/>
      <inertia ixx="4e-07" ixy="0" ixz="0" iyy="4e-07" iyz="0" izz="4e-07"/>
    </inertial>
  </link>
  <joint name="island_block_drawer_island_col2_center_joint" type="prismatic">
    <origin rpy="0 0 0" xyz="0 0 0"/>
    <parent link="drawer_island_col2_center_fixed_link"/>
    <child link="drawer_island_col2_center_link"/>
    <axis xyz="0.999 0 0.044"/>
    <!-- the axis needs to be slightly tilted so that the drawers would stay closed in Gazebo-->
    <limit effort="300" lower="0" upper="0.48" velocity="10"/>
  </joint>
  <gazebo reference="island_block_drawer_island_col2_center_joint">
    <erp>0.8</erp>
    <cfm>0.0000001</cfm>
    <stopKp>1000000.0</stopKp>
    <stopKd>1.0</stopKd>
  </gazebo>
  <link name="drawer_island_col2_center_link">
    <inertial>
      <mass value="1.0"/>
      <inertia ixx="0.0903416666667" ixy="0" ixz="0" iyy="0.0833666666667" iyz="0" izz="0.00704166666667"/>
    </inertial>
    <visual>
      <origin rpy="0 0 0" xyz="0 0 0"/>
      <geometry>
        <box size="0.02 0.995 0.285"/>
      </geometry>
      <material name="KitchenLightGray"/>
    </visual>
    <collision>
      <origin rpy="0 0 0" xyz="0 0 0"/>
      <geometry>
        <box size="0.02 1.0 0.29"/>
      </geometry>
    </collision>
  </link>
  <gazebo reference="drawer_island_col2_center_link">
    <material value="Ias/KitchenLightGray"/>
  </gazebo>
  <joint name="drawer_island_col2_center_left_fixed_joint" type="fixed">
    <origin rpy="0 0 0" xyz="0 0 0"/>
    <parent link="drawer_island_col2_center_link"/>
    <child link="drawer_island_col2_center_left_link"/>
  </joint>
  <link name="drawer_island_col2_center_left_link">
    <inertial>
      <mass value="1.0"/>
      <inertia ixx="0.00483333333333" ixy="0" ixz="0" iyy="0.0243333333333" iyz="0" izz="0.0291"/>
    </inertial>
    <visual>
      <origin rpy="0 0 0" xyz="-0.27 -0.44 0"/>
      <geometry>
        <box size="0.54 0.02 0.24"/>
      </geometry>
      <material name="KitchenDarkGray"/>
    </visual>
    <collision>
      <origin rpy="0 0 0" xyz="-0.27 -0.44 0"/>
      <geometry>
        <box size="0.54 0.02 0.24"/>
      </geometry>
    </collision>
  </link>
  <gazebo reference="drawer_island_col2_center_left_link">
    <material value="Ias/KitchenLightGray"/>
  </gazebo>
  <joint name="drawer_island_col2_center_right_fixed_joint" type="fixed">
    <origin rpy="0 0 0" xyz="0 0 0"/>
    <parent link="drawer_island_col2_center_link"/>
    <child link="drawer_island_col2_center_right_link"/>
  </joint>
  <link name="drawer_island_col2_center_right_link">
    <inertial>
      <mass value="1.0"/>
      <inertia ixx="0.00483333333333" ixy="0" ixz="0" iyy="0.0243333333333" iyz="0" izz="0.0291"/>
    </inertial>
    <visual>
      <origin rpy="0 0 0" xyz="-0.27 0.44 0"/>
      <geometry>
        <box size="0.54 0.02 0.24"/>
      </geometry>
      <material name="KitchenDarkGray"/>
    </visual>
    <collision>
      <origin rpy="0 0 0" xyz="-0.27 0.44 0"/>
      <geometry>
        <box size="0.54 0.02 0.24"/>
      </geometry>
    </collision>
  </link>
  <gazebo reference="drawer_island_col2_center_right_link">
    <material value="Ias/KitchenLightGray"/>
  </gazebo>
  <joint name="drawer_island_col2_center_back_fixed_joint" type="fixed">
    <origin rpy="0 0 0" xyz="0 0 0"/>
    <parent link="drawer_island_col2_center_link"/>
    <child link="drawer_island_col2_center_back_link"/>
  </joint>
  <link name="drawer_island_col2_center_back_link">
    <inertial>
      <mass value="1.0"/>
      <inertia ixx="0.0723" ixy="0" ixz="0" iyy="0.0675333333333" iyz="0" izz="0.00483333333333"/>
    </inertial>
    <visual>
      <origin rpy="0 0 0" xyz="-0.54 0 0"/>
      <geometry>
        <box size="0.02 0.9 0.24"/>
      </geometry>
      <material name="KitchenDarkGray"/>
    </visual>
    <collision>
      <origin rpy="0 0 0" xyz="-0.54 0 0"/>
      <geometry>
        <box size="0.02 0.9 0.24"/>
      </geometry>
    </collision>
  </link>
  <gazebo reference="drawer_island_col2_center_back_link">
    <material value="Ias/KitchenLightGray"/>
  </gazebo>
  <joint name="drawer_island_col2_center_bottom_fixed_joint" type="fixed">
    <origin rpy="0 0 0" xyz="0 0 0"/>
    <parent link="drawer_island_col2_center_link"/>
    <child link="drawer_island_col2_center_bottom_link"/>
  </joint>
  <link name="drawer_island_col2_center_bottom_link">
    <inertial>
      <mass value="1.0"/>
      <inertia ixx="0.0675333333333" ixy="0" ixz="0" iyy="0.0918" iyz="0" izz="0.0243333333333"/>
    </inertial>
    <visual>
      <origin rpy="0 0 0" xyz="-0.27 0 -0.11"/>
      <geometry>
        <box size="0.54 0.9 0.02"/>
      </geometry>
      <material name="KitchenDarkGray"/>
    </visual>
    <collision>
      <origin rpy="0 0 0" xyz="-0.27 0 -0.11"/>
      <geometry>
        <box size="0.54 0.9 0.02"/>
      </geometry>
    </collision>
  </link>
  <gazebo reference="drawer_island_col2_center_bottom_link">
    <material value="Ias/KitchenLightGray"/>
  </gazebo>
  <joint name="drawer_island_col2_center_handle_drawer_island_col2_center_joint" type="fixed">
    <origin rpy="0 0 0" xyz="0.0625 0.0 0.0925"/>
    <parent link="drawer_island_col2_center_link"/>
    <child link="handle_drawer_island_col2_center_link"/>
  </joint>
  <link name="handle_drawer_island_col2_center_link">
    <inertial>
      <mass value="0.1"/>
      <inertia ixx="0.00682604166667" ixy="0" ixz="0" iyy="0.00682604166667" iyz="0" izz="1.66666666667e-06"/>
    </inertial>
    <visual>
      <origin rpy="0 0 0" xyz="0 0 0"/>
      <geometry>
        <box size="0.01 0.905 0.01"/>
      </geometry>
      <material name="KitchenDarkGray"/>
    </visual>
    <collision>
      <origin rpy="0 0 0" xyz="0 0 0"/>
      <geometry>
        <box size="0.015 0.91 0.015"/>
      </geometry>
    </collision>
  </link>
  <gazebo reference="handle_drawer_island_col2_center_link">
    <material value="Ias/KitchenDarkGray"/>
  </gazebo>
  <joint name="island_block_drawer_island_col2_top_fixed_joint" type="fixed">
    <origin rpy="0 0 0" xyz="0.57 1.13 0.75"/>
    <parent link="island_block_link"/>
    <child link="drawer_island_col2_top_fixed_link"/>
  </joint>
  <link name="drawer_island_col2_top_fixed_link">
    <inertial>
      <mass value="1"/>
      <inertia ixx="4e-07" ixy="0" ixz="0" iyy="4e-07" iyz="0" izz="4e-07"/>
    </inertial>
  </link>
  <joint name="island_block_drawer_island_col2_top_joint" type="prismatic">
    <origin rpy="0 0 0" xyz="0 0 0"/>
    <parent link="drawer_island_col2_top_fixed_link"/>
    <child link="drawer_island_col2_top_link"/>
    <axis xyz="0.999 0 0.044"/>
    <!-- the axis needs to be slightly tilted so that the drawers would stay closed in Gazebo-->
    <limit effort="300" lower="0" upper="0.48" velocity="10"/>
  </joint>
  <gazebo reference="island_block_drawer_island_col2_top_joint">
    <erp>0.8</erp>
    <cfm>0.0000001</cfm>
    <stopKp>1000000.0</stopKp>
    <stopKd>1.0</stopKd>
  </gazebo>
  <link name="drawer_island_col2_top_link">
    <inertial>
      <mass value="1.0"/>
      <inertia ixx="0.0849666666667" ixy="0" ixz="0" iyy="0.0833666666667" iyz="0" izz="0.00166666666667"/>
    </inertial>
    <visual>
      <origin rpy="0 0 0" xyz="0 0 0"/>
      <geometry>
        <box size="0.02 0.995 0.135"/>
      </geometry>
      <material name="KitchenLightGray"/>
    </visual>
    <collision>
      <origin rpy="0 0 0" xyz="0 0 0"/>
      <geometry>
        <box size="0.02 1.0 0.14"/>
      </geometry>
    </collision>
  </link>
  <gazebo reference="drawer_island_col2_top_link">
    <material value="Ias/KitchenLightGray"/>
  </gazebo>
  <joint name="drawer_island_col2_top_left_fixed_joint" type="fixed">
    <origin rpy="0 0 0" xyz="0 0 0"/>
    <parent link="drawer_island_col2_top_link"/>
    <child link="drawer_island_col2_top_left_link"/>
  </joint>
  <link name="drawer_island_col2_top_left_link">
    <inertial>
      <mass value="1.0"/>
      <inertia ixx="0.000708333333333" ixy="0" ixz="0" iyy="0.0243333333333" iyz="0" izz="0.024975"/>
    </inertial>
    <visual>
      <origin rpy="0 0 0" xyz="-0.27 -0.44 0"/>
      <geometry>
        <box size="0.54 0.02 0.09"/>
      </geometry>
      <material name="KitchenDarkGray"/>
    </visual>
    <collision>
      <origin rpy="0 0 0" xyz="-0.27 -0.44 0"/>
      <geometry>
        <box size="0.54 0.02 0.09"/>
      </geometry>
    </collision>
  </link>
  <gazebo reference="drawer_island_col2_top_left_link">
    <material value="Ias/KitchenLightGray"/>
  </gazebo>
  <joint name="drawer_island_col2_top_right_fixed_joint" type="fixed">
    <origin rpy="0 0 0" xyz="0 0 0"/>
    <parent link="drawer_island_col2_top_link"/>
    <child link="drawer_island_col2_top_right_link"/>
  </joint>
  <link name="drawer_island_col2_top_right_link">
    <inertial>
      <mass value="1.0"/>
      <inertia ixx="0.000708333333333" ixy="0" ixz="0" iyy="0.0243333333333" iyz="0" izz="0.024975"/>
    </inertial>
    <visual>
      <origin rpy="0 0 0" xyz="-0.27 0.44 0"/>
      <geometry>
        <box size="0.54 0.02 0.09"/>
      </geometry>
      <material name="KitchenDarkGray"/>
    </visual>
    <collision>
      <origin rpy="0 0 0" xyz="-0.27 0.44 0"/>
      <geometry>
        <box size="0.54 0.02 0.09"/>
      </geometry>
    </collision>
  </link>
  <gazebo reference="drawer_island_col2_top_right_link">
    <material value="Ias/KitchenLightGray"/>
  </gazebo>
  <joint name="drawer_island_col2_top_back_fixed_joint" type="fixed">
    <origin rpy="0 0 0" xyz="0 0 0"/>
    <parent link="drawer_island_col2_top_link"/>
    <child link="drawer_island_col2_top_back_link"/>
  </joint>
  <link name="drawer_island_col2_top_back_link">
    <inertial>
      <mass value="1.0"/>
      <inertia ixx="0.068175" ixy="0" ixz="0" iyy="0.0675333333333" iyz="0" izz="0.000708333333333"/>
    </inertial>
    <visual>
      <origin rpy="0 0 0" xyz="-0.54 0 0"/>
      <geometry>
        <box size="0.02 0.9 0.09"/>
      </geometry>
      <material name="KitchenDarkGray"/>
    </visual>
    <collision>
      <origin rpy="0 0 0" xyz="-0.54 0 0"/>
      <geometry>
        <box size="0.02 0.9 0.09"/>
      </geometry>
    </collision>
  </link>
  <gazebo reference="drawer_island_col2_top_back_link">
    <material value="Ias/KitchenLightGray"/>
  </gazebo>
  <joint name="drawer_island_col2_top_bottom_fixed_joint" type="fixed">
    <origin rpy="0 0 0" xyz="0 0 0"/>
    <parent link="drawer_island_col2_top_link"/>
    <child link="drawer_island_col2_top_bottom_link"/>
  </joint>
  <link name="drawer_island_col2_top_bottom_link">
    <inertial>
      <mass value="1.0"/>
      <inertia ixx="0.0675333333333" ixy="0" ixz="0" iyy="0.0918" iyz="0" izz="0.0243333333333"/>
    </inertial>
    <visual>
      <origin rpy="0 0 0" xyz="-0.27 0 -0.035"/>
      <geometry>
        <box size="0.54 0.9 0.02"/>
      </geometry>
      <material name="KitchenDarkGray"/>
    </visual>
    <collision>
      <origin rpy="0 0 0" xyz="-0.27 0 -0.035"/>
      <geometry>
        <box size="0.54 0.9 0.02"/>
      </geometry>
    </collision>
  </link>
  <gazebo reference="drawer_island_col2_top_bottom_link">
    <material value="Ias/KitchenLightGray"/>
  </gazebo>
  <joint name="drawer_island_col2_top_handle_drawer_island_col2_top_joint" type="fixed">
    <origin rpy="0 0 0" xyz="0.0625 0.0 0.0175"/>
    <parent link="drawer_island_col2_top_link"/>
    <child link="handle_drawer_island_col2_top_link"/>
  </joint>
  <link name="handle_drawer_island_col2_top_link">
    <inertial>
      <mass value="0.1"/>
      <inertia ixx="0.00682604166667" ixy="0" ixz="0" iyy="0.00682604166667" iyz="0" izz="1.66666666667e-06"/>
    </inertial>
    <visual>
      <origin rpy="0 0 0" xyz="0 0 0"/>
      <geometry>
        <box size="0.01 0.905 0.01"/>
      </geometry>
      <material name="KitchenDarkGray"/>
    </visual>
    <collision>
      <origin rpy="0 0 0" xyz="0 0 0"/>
      <geometry>
        <box size="0.015 0.91 0.015"/>
      </geometry>
    </collision>
  </link>
  <gazebo reference="handle_drawer_island_col2_top_link">
    <material value="Ias/KitchenDarkGray"/>
  </gazebo>
  <joint name="island_block_drawer_island_col3_bottom_fixed_joint" type="fixed">
    <origin rpy="0 0 0" xyz="0.57 1.93 0.245"/>
    <parent link="island_block_link"/>
    <child link="drawer_island_col3_bottom_fixed_link"/>
  </joint>
  <link name="drawer_island_col3_bottom_fixed_link">
    <inertial>
      <mass value="1"/>
      <inertia ixx="4e-07" ixy="0" ixz="0" iyy="4e-07" iyz="0" izz="4e-07"/>
    </inertial>
  </link>
  <joint name="island_block_drawer_island_col3_bottom_joint" type="prismatic">
    <origin rpy="0 0 0" xyz="0 0 0"/>
    <parent link="drawer_island_col3_bottom_fixed_link"/>
    <child link="drawer_island_col3_bottom_link"/>
    <axis xyz="0.999 0 0.044"/>
    <!-- the axis needs to be slightly tilted so that the drawers would stay closed in Gazebo-->
    <limit effort="300" lower="0" upper="0.48" velocity="10"/>
  </joint>
  <gazebo reference="island_block_drawer_island_col3_bottom_joint">
    <erp>0.8</erp>
    <cfm>0.0000001</cfm>
    <stopKp>1000000.0</stopKp>
    <stopKd>1.0</stopKd>
  </gazebo>
  <link name="drawer_island_col3_bottom_link">
    <inertial>
      <mass value="1.0"/>
      <inertia ixx="0.0370083333333" ixy="0" ixz="0" iyy="0.0300333333333" iyz="0" izz="0.00704166666667"/>
    </inertial>
    <visual>
      <origin rpy="0 0 0" xyz="0 0 0"/>
      <geometry>
        <box size="0.02 0.595 0.285"/>
      </geometry>
      <material name="KitchenLightGray"/>
    </visual>
    <collision>
      <origin rpy="0 0 0" xyz="0 0 0"/>
      <geometry>
        <box size="0.02 0.6 0.29"/>
      </geometry>
    </collision>
  </link>
  <gazebo reference="drawer_island_col3_bottom_link">
    <material value="Ias/KitchenLightGray"/>
  </gazebo>
  <joint name="drawer_island_col3_bottom_left_fixed_joint" type="fixed">
    <origin rpy="0 0 0" xyz="0 0 0"/>
    <parent link="drawer_island_col3_bottom_link"/>
    <child link="drawer_island_col3_bottom_left_link"/>
  </joint>
  <link name="drawer_island_col3_bottom_left_link">
    <inertial>
      <mass value="1.0"/>
      <inertia ixx="0.00483333333333" ixy="0" ixz="0" iyy="0.0243333333333" iyz="0" izz="0.0291"/>
    </inertial>
    <visual>
      <origin rpy="0 0 0" xyz="-0.27 -0.24 0"/>
      <geometry>
        <box size="0.54 0.02 0.24"/>
      </geometry>
      <material name="KitchenDarkGray"/>
    </visual>
    <collision>
      <origin rpy="0 0 0" xyz="-0.27 -0.24 0"/>
      <geometry>
        <box size="0.54 0.02 0.24"/>
      </geometry>
    </collision>
  </link>
  <gazebo reference="drawer_island_col3_bottom_left_link">
    <material value="Ias/KitchenLightGray"/>
  </gazebo>
  <joint name="drawer_island_col3_bottom_right_fixed_joint" type="fixed">
    <origin rpy="0 0 0" xyz="0 0 0"/>
    <parent link="drawer_island_col3_bottom_link"/>
    <child link="drawer_island_col3_bottom_right_link"/>
  </joint>
  <link name="drawer_island_col3_bottom_right_link">
    <inertial>
      <mass value="1.0"/>
      <inertia ixx="0.00483333333333" ixy="0" ixz="0" iyy="0.0243333333333" iyz="0" izz="0.0291"/>
    </inertial>
    <visual>
      <origin rpy="0 0 0" xyz="-0.27 0.24 0"/>
      <geometry>
        <box size="0.54 0.02 0.24"/>
      </geometry>
      <material name="KitchenDarkGray"/>
    </visual>
    <collision>
      <origin rpy="0 0 0" xyz="-0.27 0.24 0"/>
      <geometry>
        <box size="0.54 0.02 0.24"/>
      </geometry>
    </collision>
  </link>
  <gazebo reference="drawer_island_col3_bottom_right_link">
    <material value="Ias/KitchenLightGray"/>
  </gazebo>
  <joint name="drawer_island_col3_bottom_back_fixed_joint" type="fixed">
    <origin rpy="0 0 0" xyz="0 0 0"/>
    <parent link="drawer_island_col3_bottom_link"/>
    <child link="drawer_island_col3_bottom_back_link"/>
  </joint>
  <link name="drawer_island_col3_bottom_back_link">
    <inertial>
      <mass value="1.0"/>
      <inertia ixx="0.0256333333333" ixy="0" ixz="0" iyy="0.0208666666667" iyz="0" izz="0.00483333333333"/>
    </inertial>
    <visual>
      <origin rpy="0 0 0" xyz="-0.54 0 0"/>
      <geometry>
        <box size="0.02 0.5 0.24"/>
      </geometry>
      <material name="KitchenDarkGray"/>
    </visual>
    <collision>
      <origin rpy="0 0 0" xyz="-0.54 0 0"/>
      <geometry>
        <box size="0.02 0.5 0.24"/>
      </geometry>
    </collision>
  </link>
  <gazebo reference="drawer_island_col3_bottom_back_link">
    <material value="Ias/KitchenLightGray"/>
  </gazebo>
  <joint name="drawer_island_col3_bottom_bottom_fixed_joint" type="fixed">
    <origin rpy="0 0 0" xyz="0 0 0"/>
    <parent link="drawer_island_col3_bottom_link"/>
    <child link="drawer_island_col3_bottom_bottom_link"/>
  </joint>
  <link name="drawer_island_col3_bottom_bottom_link">
    <inertial>
      <mass value="1.0"/>
      <inertia ixx="0.0208666666667" ixy="0" ixz="0" iyy="0.0451333333333" iyz="0" izz="0.0243333333333"/>
    </inertial>
    <visual>
      <origin rpy="0 0 0" xyz="-0.27 0 -0.11"/>
      <geometry>
        <box size="0.54 0.5 0.02"/>
      </geometry>
      <material name="KitchenDarkGray"/>
    </visual>
    <collision>
      <origin rpy="0 0 0" xyz="-0.27 0 -0.11"/>
      <geometry>
        <box size="0.54 0.5 0.02"/>
      </geometry>
    </collision>
  </link>
  <gazebo reference="drawer_island_col3_bottom_bottom_link">
    <material value="Ias/KitchenLightGray"/>
  </gazebo>
  <joint name="drawer_island_col3_bottom_handle_drawer_island_col3_bottom_joint" type="fixed">
    <origin rpy="0 0 0" xyz="0.0625 0.0 0.0925"/>
    <parent link="drawer_island_col3_bottom_link"/>
    <child link="handle_drawer_island_col3_bottom_link"/>
  </joint>
  <link name="handle_drawer_island_col3_bottom_link">
    <inertial>
      <mass value="0.1"/>
      <inertia ixx="0.00212604166667" ixy="0" ixz="0" iyy="0.00212604166667" iyz="0" izz="1.66666666667e-06"/>
    </inertial>
    <visual>
      <origin rpy="0 0 0" xyz="0 0 0"/>
      <geometry>
        <box size="0.01 0.505 0.01"/>
      </geometry>
      <material name="KitchenDarkGray"/>
    </visual>
    <collision>
      <origin rpy="0 0 0" xyz="0 0 0"/>
      <geometry>
        <box size="0.015 0.51 0.015"/>
      </geometry>
    </collision>
  </link>
  <gazebo reference="handle_drawer_island_col3_bottom_link">
    <material value="Ias/KitchenDarkGray"/>
  </gazebo>
  <joint name="island_block_drawer_island_col3_center_fixed_joint" type="fixed">
    <origin rpy="0 0 0" xyz="0.57 1.93 0.535"/>
    <parent link="island_block_link"/>
    <child link="drawer_island_col3_center_fixed_link"/>
  </joint>
  <link name="drawer_island_col3_center_fixed_link">
    <inertial>
      <mass value="1"/>
      <inertia ixx="4e-07" ixy="0" ixz="0" iyy="4e-07" iyz="0" izz="4e-07"/>
    </inertial>
  </link>
  <joint name="island_block_drawer_island_col3_center_joint" type="prismatic">
    <origin rpy="0 0 0" xyz="0 0 0"/>
    <parent link="drawer_island_col3_center_fixed_link"/>
    <child link="drawer_island_col3_center_link"/>
    <axis xyz="0.999 0 0.044"/>
    <!-- the axis needs to be slightly tilted so that the drawers would stay closed in Gazebo-->
    <limit effort="300" lower="0" upper="0.48" velocity="10"/>
  </joint>
  <gazebo reference="island_block_drawer_island_col3_center_joint">
    <erp>0.8</erp>
    <cfm>0.0000001</cfm>
    <stopKp>1000000.0</stopKp>
    <stopKd>1.0</stopKd>
  </gazebo>
  <link name="drawer_island_col3_center_link">
    <inertial>
      <mass value="1.0"/>
      <inertia ixx="0.0370083333333" ixy="0" ixz="0" iyy="0.0300333333333" iyz="0" izz="0.00704166666667"/>
    </inertial>
    <visual>
      <origin rpy="0 0 0" xyz="0 0 0"/>
      <geometry>
        <box size="0.02 0.595 0.285"/>
      </geometry>
      <material name="KitchenLightGray"/>
    </visual>
    <collision>
      <origin rpy="0 0 0" xyz="0 0 0"/>
      <geometry>
        <box size="0.02 0.6 0.29"/>
      </geometry>
    </collision>
  </link>
  <gazebo reference="drawer_island_col3_center_link">
    <material value="Ias/KitchenLightGray"/>
  </gazebo>
  <joint name="drawer_island_col3_center_left_fixed_joint" type="fixed">
    <origin rpy="0 0 0" xyz="0 0 0"/>
    <parent link="drawer_island_col3_center_link"/>
    <child link="drawer_island_col3_center_left_link"/>
  </joint>
  <link name="drawer_island_col3_center_left_link">
    <inertial>
      <mass value="1.0"/>
      <inertia ixx="0.00483333333333" ixy="0" ixz="0" iyy="0.0243333333333" iyz="0" izz="0.0291"/>
    </inertial>
    <visual>
      <origin rpy="0 0 0" xyz="-0.27 -0.24 0"/>
      <geometry>
        <box size="0.54 0.02 0.24"/>
      </geometry>
      <material name="KitchenDarkGray"/>
    </visual>
    <collision>
      <origin rpy="0 0 0" xyz="-0.27 -0.24 0"/>
      <geometry>
        <box size="0.54 0.02 0.24"/>
      </geometry>
    </collision>
  </link>
  <gazebo reference="drawer_island_col3_center_left_link">
    <material value="Ias/KitchenLightGray"/>
  </gazebo>
  <joint name="drawer_island_col3_center_right_fixed_joint" type="fixed">
    <origin rpy="0 0 0" xyz="0 0 0"/>
    <parent link="drawer_island_col3_center_link"/>
    <child link="drawer_island_col3_center_right_link"/>
  </joint>
  <link name="drawer_island_col3_center_right_link">
    <inertial>
      <mass value="1.0"/>
      <inertia ixx="0.00483333333333" ixy="0" ixz="0" iyy="0.0243333333333" iyz="0" izz="0.0291"/>
    </inertial>
    <visual>
      <origin rpy="0 0 0" xyz="-0.27 0.24 0"/>
      <geometry>
        <box size="0.54 0.02 0.24"/>
      </geometry>
      <material name="KitchenDarkGray"/>
    </visual>
    <collision>
      <origin rpy="0 0 0" xyz="-0.27 0.24 0"/>
      <geometry>
        <box size="0.54 0.02 0.24"/>
      </geometry>
    </collision>
  </link>
  <gazebo reference="drawer_island_col3_center_right_link">
    <material value="Ias/KitchenLightGray"/>
  </gazebo>
  <joint name="drawer_island_col3_center_back_fixed_joint" type="fixed">
    <origin rpy="0 0 0" xyz="0 0 0"/>
    <parent link="drawer_island_col3_center_link"/>
    <child link="drawer_island_col3_center_back_link"/>
  </joint>
  <link name="drawer_island_col3_center_back_link">
    <inertial>
      <mass value="1.0"/>
      <inertia ixx="0.0256333333333" ixy="0" ixz="0" iyy="0.0208666666667" iyz="0" izz="0.00483333333333"/>
    </inertial>
    <visual>
      <origin rpy="0 0 0" xyz="-0.54 0 0"/>
      <geometry>
        <box size="0.02 0.5 0.24"/>
      </geometry>
      <material name="KitchenDarkGray"/>
    </visual>
    <collision>
      <origin rpy="0 0 0" xyz="-0.54 0 0"/>
      <geometry>
        <box size="0.02 0.5 0.24"/>
      </geometry>
    </collision>
  </link>
  <gazebo reference="drawer_island_col3_center_back_link">
    <material value="Ias/KitchenLightGray"/>
  </gazebo>
  <joint name="drawer_island_col3_center_bottom_fixed_joint" type="fixed">
    <origin rpy="0 0 0" xyz="0 0 0"/>
    <parent link="drawer_island_col3_center_link"/>
    <child link="drawer_island_col3_center_bottom_link"/>
  </joint>
  <link name="drawer_island_col3_center_bottom_link">
    <inertial>
      <mass value="1.0"/>
      <inertia ixx="0.0208666666667" ixy="0" ixz="0" iyy="0.0451333333333" iyz="0" izz="0.0243333333333"/>
    </inertial>
    <visual>
      <origin rpy="0 0 0" xyz="-0.27 0 -0.11"/>
      <geometry>
        <box size="0.54 0.5 0.02"/>
      </geometry>
      <material name="KitchenDarkGray"/>
    </visual>
    <collision>
      <origin rpy="0 0 0" xyz="-0.27 0 -0.11"/>
      <geometry>
        <box size="0.54 0.5 0.02"/>
      </geometry>
    </collision>
  </link>
  <gazebo reference="drawer_island_col3_center_bottom_link">
    <material value="Ias/KitchenLightGray"/>
  </gazebo>
  <joint name="drawer_island_col3_center_handle_drawer_island_col3_center_joint" type="fixed">
    <origin rpy="0 0 0" xyz="0.0625 0.0 0.0925"/>
    <parent link="drawer_island_col3_center_link"/>
    <child link="handle_drawer_island_col3_center_link"/>
  </joint>
  <link name="handle_drawer_island_col3_center_link">
    <inertial>
      <mass value="0.1"/>
      <inertia ixx="0.00212604166667" ixy="0" ixz="0" iyy="0.00212604166667" iyz="0" izz="1.66666666667e-06"/>
    </inertial>
    <visual>
      <origin rpy="0 0 0" xyz="0 0 0"/>
      <geometry>
        <box size="0.01 0.505 0.01"/>
      </geometry>
      <material name="KitchenDarkGray"/>
    </visual>
    <collision>
      <origin rpy="0 0 0" xyz="0 0 0"/>
      <geometry>
        <box size="0.015 0.51 0.015"/>
      </geometry>
    </collision>
  </link>
  <gazebo reference="handle_drawer_island_col3_center_link">
    <material value="Ias/KitchenDarkGray"/>
  </gazebo>
  <joint name="island_block_drawer_island_col3_top_fixed_joint" type="fixed">
    <origin rpy="0 0 0" xyz="0.57 1.93 0.75"/>
    <parent link="island_block_link"/>
    <child link="drawer_island_col3_top_fixed_link"/>
  </joint>
  <link name="drawer_island_col3_top_fixed_link">
    <inertial>
      <mass value="1"/>
      <inertia ixx="4e-07" ixy="0" ixz="0" iyy="4e-07" iyz="0" izz="4e-07"/>
    </inertial>
  </link>
  <joint name="island_block_drawer_island_col3_top_joint" type="prismatic">
    <origin rpy="0 0 0" xyz="0 0 0"/>
    <parent link="drawer_island_col3_top_fixed_link"/>
    <child link="drawer_island_col3_top_link"/>
    <axis xyz="0.999 0 0.044"/>
    <!-- the axis needs to be slightly tilted so that the drawers would stay closed in Gazebo-->
    <limit effort="300" lower="0" upper="0.48" velocity="10"/>
  </joint>
  <gazebo reference="island_block_drawer_island_col3_top_joint">
    <erp>0.8</erp>
    <cfm>0.0000001</cfm>
    <stopKp>1000000.0</stopKp>
    <stopKd>1.0</stopKd>
  </gazebo>
  <link name="drawer_island_col3_top_link">
    <inertial>
      <mass value="1.0"/>
      <inertia ixx="0.0316333333333" ixy="0" ixz="0" iyy="0.0300333333333" iyz="0" izz="0.00166666666667"/>
    </inertial>
    <visual>
      <origin rpy="0 0 0" xyz="0 0 0"/>
      <geometry>
        <box size="0.02 0.595 0.135"/>
      </geometry>
      <material name="KitchenLightGray"/>
    </visual>
    <collision>
      <origin rpy="0 0 0" xyz="0 0 0"/>
      <geometry>
        <box size="0.02 0.6 0.14"/>
      </geometry>
    </collision>
  </link>
  <gazebo reference="drawer_island_col3_top_link">
    <material value="Ias/KitchenLightGray"/>
  </gazebo>
  <joint name="drawer_island_col3_top_left_fixed_joint" type="fixed">
    <origin rpy="0 0 0" xyz="0 0 0"/>
    <parent link="drawer_island_col3_top_link"/>
    <child link="drawer_island_col3_top_left_link"/>
  </joint>
  <link name="drawer_island_col3_top_left_link">
    <inertial>
      <mass value="1.0"/>
      <inertia ixx="0.000708333333333" ixy="0" ixz="0" iyy="0.0243333333333" iyz="0" izz="0.024975"/>
    </inertial>
    <visual>
      <origin rpy="0 0 0" xyz="-0.27 -0.24 0"/>
      <geometry>
        <box size="0.54 0.02 0.09"/>
      </geometry>
      <material name="KitchenDarkGray"/>
    </visual>
    <collision>
      <origin rpy="0 0 0" xyz="-0.27 -0.24 0"/>
      <geometry>
        <box size="0.54 0.02 0.09"/>
      </geometry>
    </collision>
  </link>
  <gazebo reference="drawer_island_col3_top_left_link">
    <material value="Ias/KitchenLightGray"/>
  </gazebo>
  <joint name="drawer_island_col3_top_right_fixed_joint" type="fixed">
    <origin rpy="0 0 0" xyz="0 0 0"/>
    <parent link="drawer_island_col3_top_link"/>
    <child link="drawer_island_col3_top_right_link"/>
  </joint>
  <link name="drawer_island_col3_top_right_link">
    <inertial>
      <mass value="1.0"/>
      <inertia ixx="0.000708333333333" ixy="0" ixz="0" iyy="0.0243333333333" iyz="0" izz="0.024975"/>
    </inertial>
    <visual>
      <origin rpy="0 0 0" xyz="-0.27 0.24 0"/>
      <geometry>
        <box size="0.54 0.02 0.09"/>
      </geometry>
      <material name="KitchenDarkGray"/>
    </visual>
    <collision>
      <origin rpy="0 0 0" xyz="-0.27 0.24 0"/>
      <geometry>
        <box size="0.54 0.02 0.09"/>
      </geometry>
    </collision>
  </link>
  <gazebo reference="drawer_island_col3_top_right_link">
    <material value="Ias/KitchenLightGray"/>
  </gazebo>
  <joint name="drawer_island_col3_top_back_fixed_joint" type="fixed">
    <origin rpy="0 0 0" xyz="0 0 0"/>
    <parent link="drawer_island_col3_top_link"/>
    <child link="drawer_island_col3_top_back_link"/>
  </joint>
  <link name="drawer_island_col3_top_back_link">
    <inertial>
      <mass value="1.0"/>
      <inertia ixx="0.0215083333333" ixy="0" ixz="0" iyy="0.0208666666667" iyz="0" izz="0.000708333333333"/>
    </inertial>
    <visual>
      <origin rpy="0 0 0" xyz="-0.54 0 0"/>
      <geometry>
        <box size="0.02 0.5 0.09"/>
      </geometry>
      <material name="KitchenDarkGray"/>
    </visual>
    <collision>
      <origin rpy="0 0 0" xyz="-0.54 0 0"/>
      <geometry>
        <box size="0.02 0.5 0.09"/>
      </geometry>
    </collision>
  </link>
  <gazebo reference="drawer_island_col3_top_back_link">
    <material value="Ias/KitchenLightGray"/>
  </gazebo>
  <joint name="drawer_island_col3_top_bottom_fixed_joint" type="fixed">
    <origin rpy="0 0 0" xyz="0 0 0"/>
    <parent link="drawer_island_col3_top_link"/>
    <child link="drawer_island_col3_top_bottom_link"/>
  </joint>
  <link name="drawer_island_col3_top_bottom_link">
    <inertial>
      <mass value="1.0"/>
      <inertia ixx="0.0208666666667" ixy="0" ixz="0" iyy="0.0451333333333" iyz="0" izz="0.0243333333333"/>
    </inertial>
    <visual>
      <origin rpy="0 0 0" xyz="-0.27 0 -0.035"/>
      <geometry>
        <box size="0.54 0.5 0.02"/>
      </geometry>
      <material name="KitchenDarkGray"/>
    </visual>
    <collision>
      <origin rpy="0 0 0" xyz="-0.27 0 -0.035"/>
      <geometry>
        <box size="0.54 0.5 0.02"/>
      </geometry>
    </collision>
  </link>
  <gazebo reference="drawer_island_col3_top_bottom_link">
    <material value="Ias/KitchenLightGray"/>
  </gazebo>
  <joint name="drawer_island_col3_top_handle_drawer_island_col3_top_joint" type="fixed">
    <origin rpy="0 0 0" xyz="0.0625 0.0 0.0175"/>
    <parent link="drawer_island_col3_top_link"/>
    <child link="handle_drawer_island_col3_top_link"/>
  </joint>
  <link name="handle_drawer_island_col3_top_link">
    <inertial>
      <mass value="0.1"/>
      <inertia ixx="0.00212604166667" ixy="0" ixz="0" iyy="0.00212604166667" iyz="0" izz="1.66666666667e-06"/>
    </inertial>
    <visual>
      <origin rpy="0 0 0" xyz="0 0 0"/>
      <geometry>
        <box size="0.01 0.505 0.01"/>
      </geometry>
      <material name="KitchenDarkGray"/>
    </visual>
    <collision>
      <origin rpy="0 0 0" xyz="0 0 0"/>
      <geometry>
        <box size="0.015 0.51 0.015"/>
      </geometry>
    </collision>
  </link>
  <gazebo reference="handle_drawer_island_col3_top_link">
    <material value="Ias/KitchenDarkGray"/>
  </gazebo>
  <joint name="island_block_skirting_island_joint" type="fixed">
    <origin rpy="0 0 0" xyz="0.275 1.13 0.05"/>
    <parent link="island_block_link"/>
    <child link="skirting_island_link"/>
  </joint>
  <link name="skirting_island_link">
    <inertial>
      <mass value="10"/>
      <inertia ixx="4.04166666667" ixy="0" ixz="0" iyy="4.25008333333" iyz="0" izz="0.225083333333"/>
    </inertial>
    <visual>
      <origin rpy="0 0 0" xyz="0 0 0"/>
      <geometry>
        <box size="0.51 2.2 0.1"/>
      </geometry>
      <material name="KitchenDarkGray"/>
    </visual>
    <collision>
      <origin rpy="0 0 0" xyz="0 0 0"/>
      <geometry>
        <box size="0.51 2.2 0.1"/>
      </geometry>
    </collision>
  </link>
  <gazebo reference="skirting_island_link">
    <material value="Ias/KitchenDarkGray"/>
  </gazebo>
  <joint name="island_block_joint" type="fixed">
    <origin rpy="0 0 3.141" xyz="-2.1 -4.94 0"/>
    <parent link="kitchen_link"/>
    <child link="island_block_link"/>
  </joint>
  <link name="island_block_link">
    <inertial>
      <mass value="0"/>
      <inertia ixx="0.0" ixy="0" ixz="0" iyy="0.0" iyz="0" izz="0.0"/>
    </inertial>
    <visual>
      <origin rpy="0 0 0" xyz="0 0 0"/>
      <geometry>
        <box size=".1 .1 .1"/>
      </geometry>
    </visual>
  </link>
  <joint name="oven_block_counter_top_oven_joint" type="fixed">
    <origin rpy="0 0 0" xyz="0.29 0.6 1.495"/>
    <parent link="oven_block_link"/>
    <child link="counter_top_oven_link"/>
  </joint>
  <link name="counter_top_oven_link">
    <inertial>
      <mass value="2.0"/>
      <inertia ixx="0.24015" ixy="0" ixz="0" iyy="0.296066666667" iyz="0" izz="0.0562166666667"/>
    </inertial>
    <visual>
      <origin rpy="0 0 0" xyz="0 0 0"/>
      <geometry>
        <box size="0.58 1.2 0.03"/>
      </geometry>
      <material name="KitchenDarkGray"/>
    </visual>
    <collision>
      <origin rpy="0 0 0" xyz="0 0 0"/>
      <geometry>
        <box size="0.58 1.2 0.03"/>
      </geometry>
    </collision>
  </link>
  <gazebo reference="counter_top_oven_link">
    <kp>100000</kp>
    <kd>1000000</kd>
    <mu1>50000</mu1>
    <mu2>50000</mu2>
    <material value="Ias/KitchenDarkGray"/>
  </gazebo>
  <joint name="oven_block_drawer_oven_left_fixed_joint" type="fixed">
    <origin rpy="0 0 0" xyz="0.29 0.15 0.815"/>
    <parent link="oven_block_link"/>
    <child link="drawer_oven_left_fixed_link"/>
  </joint>
  <link name="drawer_oven_left_fixed_link">
    <inertial>
      <mass value="0.1"/>
      <inertia ixx="4e-08" ixy="0" ixz="0" iyy="4e-08" iyz="0" izz="4e-08"/>
    </inertial>
  </link>
  <joint name="oven_block_drawer_oven_left_joint" type="prismatic">
    <origin rpy="0 0 0" xyz="0 0 0"/>
    <parent link="drawer_oven_left_fixed_link"/>
    <child link="drawer_oven_left_link"/>
    <axis xyz="0.999 0 0.044"/>
    <!-- the axis needs to be slightly tilted so that the drawers would stay closed in Gazebo-->
    <limit effort="300" lower="0" upper="0.48" velocity="10"/>
  </joint>
  <link name="drawer_oven_left_link">
    <inertial>
      <mass value="1.0"/>
      <inertia ixx="0.153554166667" ixy="0" ixz="0" iyy="0.0348041666667" iyz="0" izz="0.173854166667"/>
    </inertial>
    <visual>
      <origin rpy="0 0 0" xyz="0 0 0"/>
      <geometry>
        <box size="0.575 0.295 1.325"/>
      </geometry>
      <material name="KitchenLightGray"/>
    </visual>
    <collision>
      <origin rpy="0 0 0" xyz="0 0 0"/>
      <geometry>
        <box size="0.58 0.3 1.33"/>
      </geometry>
    </collision>
  </link>
  <gazebo reference="drawer_oven_left_link">
    <material value="Ias/KitchenLightGray"/>
  </gazebo>
  <joint name="drawer_oven_left_handle_drawer_oven_left_joint" type="fixed">
    <origin rpy="0 0 0" xyz="0.3525 0.0 0.0"/>
    <parent link="drawer_oven_left_link"/>
    <child link="handle_drawer_oven_left_link"/>
  </joint>
  <link name="handle_drawer_oven_left_link">
    <inertial>
      <mass value="0.1"/>
      <inertia ixx="0.0127110416667" ixy="0" ixz="0" iyy="1.66666666667e-06" iyz="0" izz="0.0127110416667"/>
    </inertial>
    <visual>
      <origin rpy="0 0 0" xyz="0 0 0"/>
      <geometry>
        <box size="0.01 0.01 1.235"/>
      </geometry>
      <material name="KitchenDarkGray"/>
    </visual>
    <collision>
      <origin rpy="0 0 0" xyz="0 0 0"/>
      <geometry>
        <box size="0.015 0.015 1.24"/>
      </geometry>
    </collision>
  </link>
  <gazebo reference="handle_drawer_oven_left_link">
    <material value="Ias/KitchenDarkGray"/>
  </gazebo>
  <joint name="oven_block_drawer_oven_bottom_fixed_joint" type="fixed">
    <origin rpy="0 0 0" xyz="0.57 0.6 0.44"/>
    <parent link="oven_block_link"/>
    <child link="drawer_oven_bottom_fixed_link"/>
  </joint>
  <link name="drawer_oven_bottom_fixed_link">
    <inertial>
      <mass value="1"/>
      <inertia ixx="4e-07" ixy="0" ixz="0" iyy="4e-07" iyz="0" izz="4e-07"/>
    </inertial>
  </link>
  <joint name="oven_block_drawer_oven_bottom_joint" type="prismatic">
    <origin rpy="0 0 0" xyz="0 0 0"/>
    <parent link="drawer_oven_bottom_fixed_link"/>
    <child link="drawer_oven_bottom_link"/>
    <axis xyz="0.999 0 0.044"/>
    <!-- the axis needs to be slightly tilted so that the drawers would stay closed in Gazebo-->
    <limit effort="300" lower="0" upper="0.48" velocity="10"/>
  </joint>
  <gazebo reference="oven_block_drawer_oven_bottom_joint">
    <erp>0.8</erp>
    <cfm>0.0000001</cfm>
    <stopKp>1000000.0</stopKp>
    <stopKd>1.0</stopKd>
  </gazebo>
  <link name="drawer_oven_bottom_link">
    <inertial>
      <mass value="1.0"/>
      <inertia ixx="0.0580333333333" ixy="0" ixz="0" iyy="0.0300333333333" iyz="0" izz="0.0280666666667"/>
    </inertial>
    <visual>
      <origin rpy="0 0 0" xyz="0 0 0"/>
      <geometry>
        <box size="0.02 0.595 0.575"/>
      </geometry>
      <material name="KitchenLightGray"/>
    </visual>
    <collision>
      <origin rpy="0 0 0" xyz="0 0 0"/>
      <geometry>
        <box size="0.02 0.6 0.58"/>
      </geometry>
    </collision>
  </link>
  <gazebo reference="drawer_oven_bottom_link">
    <material value="Ias/KitchenLightGray"/>
  </gazebo>
  <joint name="drawer_oven_bottom_left_fixed_joint" type="fixed">
    <origin rpy="0 0 0" xyz="0 0 0"/>
    <parent link="drawer_oven_bottom_link"/>
    <child link="drawer_oven_bottom_left_link"/>
  </joint>
  <link name="drawer_oven_bottom_left_link">
    <inertial>
      <mass value="1.0"/>
      <inertia ixx="0.0234416666667" ixy="0" ixz="0" iyy="0.0243333333333" iyz="0" izz="0.0477083333333"/>
    </inertial>
    <visual>
      <origin rpy="0 0 0" xyz="-0.27 -0.24 0"/>
      <geometry>
        <box size="0.54 0.02 0.53"/>
      </geometry>
      <material name="KitchenDarkGray"/>
    </visual>
    <collision>
      <origin rpy="0 0 0" xyz="-0.27 -0.24 0"/>
      <geometry>
        <box size="0.54 0.02 0.53"/>
      </geometry>
    </collision>
  </link>
  <gazebo reference="drawer_oven_bottom_left_link">
    <material value="Ias/KitchenLightGray"/>
  </gazebo>
  <joint name="drawer_oven_bottom_right_fixed_joint" type="fixed">
    <origin rpy="0 0 0" xyz="0 0 0"/>
    <parent link="drawer_oven_bottom_link"/>
    <child link="drawer_oven_bottom_right_link"/>
  </joint>
  <link name="drawer_oven_bottom_right_link">
    <inertial>
      <mass value="1.0"/>
      <inertia ixx="0.0234416666667" ixy="0" ixz="0" iyy="0.0243333333333" iyz="0" izz="0.0477083333333"/>
    </inertial>
    <visual>
      <origin rpy="0 0 0" xyz="-0.27 0.24 0"/>
      <geometry>
        <box size="0.54 0.02 0.53"/>
      </geometry>
      <material name="KitchenDarkGray"/>
    </visual>
    <collision>
      <origin rpy="0 0 0" xyz="-0.27 0.24 0"/>
      <geometry>
        <box size="0.54 0.02 0.53"/>
      </geometry>
    </collision>
  </link>
  <gazebo reference="drawer_oven_bottom_right_link">
    <material value="Ias/KitchenLightGray"/>
  </gazebo>
  <joint name="drawer_oven_bottom_back_fixed_joint" type="fixed">
    <origin rpy="0 0 0" xyz="0 0 0"/>
    <parent link="drawer_oven_bottom_link"/>
    <child link="drawer_oven_bottom_back_link"/>
  </joint>
  <link name="drawer_oven_bottom_back_link">
    <inertial>
      <mass value="1.0"/>
      <inertia ixx="0.0442416666667" ixy="0" ixz="0" iyy="0.0208666666667" iyz="0" izz="0.0234416666667"/>
    </inertial>
    <visual>
      <origin rpy="0 0 0" xyz="-0.54 0 0"/>
      <geometry>
        <box size="0.02 0.5 0.53"/>
      </geometry>
      <material name="KitchenDarkGray"/>
    </visual>
    <collision>
      <origin rpy="0 0 0" xyz="-0.54 0 0"/>
      <geometry>
        <box size="0.02 0.5 0.53"/>
      </geometry>
    </collision>
  </link>
  <gazebo reference="drawer_oven_bottom_back_link">
    <material value="Ias/KitchenLightGray"/>
  </gazebo>
  <joint name="drawer_oven_bottom_bottom_fixed_joint" type="fixed">
    <origin rpy="0 0 0" xyz="0 0 0"/>
    <parent link="drawer_oven_bottom_link"/>
    <child link="drawer_oven_bottom_bottom_link"/>
  </joint>
  <link name="drawer_oven_bottom_bottom_link">
    <inertial>
      <mass value="1.0"/>
      <inertia ixx="0.0208666666667" ixy="0" ixz="0" iyy="0.0451333333333" iyz="0" izz="0.0243333333333"/>
    </inertial>
    <visual>
      <origin rpy="0 0 0" xyz="-0.27 0 -0.255"/>
      <geometry>
        <box size="0.54 0.5 0.02"/>
      </geometry>
      <material name="KitchenDarkGray"/>
    </visual>
    <collision>
      <origin rpy="0 0 0" xyz="-0.27 0 -0.255"/>
      <geometry>
        <box size="0.54 0.5 0.02"/>
      </geometry>
    </collision>
  </link>
  <gazebo reference="drawer_oven_bottom_bottom_link">
    <material value="Ias/KitchenLightGray"/>
  </gazebo>
  <joint name="drawer_oven_bottom_handle_drawer_oven_bottom_joint" type="fixed">
    <origin rpy="0 0 0" xyz="0.0625 0.0 0.2375"/>
    <parent link="drawer_oven_bottom_link"/>
    <child link="handle_drawer_oven_bottom_link"/>
  </joint>
  <link name="handle_drawer_oven_bottom_link">
    <inertial>
      <mass value="0.1"/>
      <inertia ixx="0.00212604166667" ixy="0" ixz="0" iyy="0.00212604166667" iyz="0" izz="1.66666666667e-06"/>
    </inertial>
    <visual>
      <origin rpy="0 0 0" xyz="0 0 0"/>
      <geometry>
        <box size="0.01 0.505 0.01"/>
      </geometry>
      <material name="KitchenDarkGray"/>
    </visual>
    <collision>
      <origin rpy="0 0 0" xyz="0 0 0"/>
      <geometry>
        <box size="0.015 0.51 0.015"/>
      </geometry>
    </collision>
  </link>
  <gazebo reference="handle_drawer_oven_bottom_link">
    <material value="Ias/KitchenDarkGray"/>
  </gazebo>
  <joint name="oven_block_drawer_oven_center_fixed_joint" type="fixed">
    <origin rpy="0 0 0" xyz="0.57 0.6 0.8"/>
    <parent link="oven_block_link"/>
    <child link="drawer_oven_center_fixed_link"/>
  </joint>
  <link name="drawer_oven_center_fixed_link">
    <inertial>
      <mass value="1"/>
      <inertia ixx="4e-07" ixy="0" ixz="0" iyy="4e-07" iyz="0" izz="4e-07"/>
    </inertial>
  </link>
  <joint name="oven_block_drawer_oven_center_joint" type="prismatic">
    <origin rpy="0 0 0" xyz="0 0 0"/>
    <parent link="drawer_oven_center_fixed_link"/>
    <child link="drawer_oven_center_link"/>
    <axis xyz="0.999 0 0.044"/>
    <!-- the axis needs to be slightly tilted so that the drawers would stay closed in Gazebo-->
    <limit effort="300" lower="0" upper="0.48" velocity="10"/>
  </joint>
  <gazebo reference="oven_block_drawer_oven_center_joint">
    <erp>0.8</erp>
    <cfm>0.0000001</cfm>
    <stopKp>1000000.0</stopKp>
    <stopKd>1.0</stopKd>
  </gazebo>
  <link name="drawer_oven_center_link">
    <inertial>
      <mass value="1.0"/>
      <inertia ixx="0.0316333333333" ixy="0" ixz="0" iyy="0.0300333333333" iyz="0" izz="0.00166666666667"/>
    </inertial>
    <visual>
      <origin rpy="0 0 0" xyz="0 0 0"/>
      <geometry>
        <box size="0.02 0.595 0.135"/>
      </geometry>
      <material name="KitchenLightGray"/>
    </visual>
    <collision>
      <origin rpy="0 0 0" xyz="0 0 0"/>
      <geometry>
        <box size="0.02 0.6 0.14"/>
      </geometry>
    </collision>
  </link>
  <gazebo reference="drawer_oven_center_link">
    <material value="Ias/KitchenLightGray"/>
  </gazebo>
  <joint name="drawer_oven_center_left_fixed_joint" type="fixed">
    <origin rpy="0 0 0" xyz="0 0 0"/>
    <parent link="drawer_oven_center_link"/>
    <child link="drawer_oven_center_left_link"/>
  </joint>
  <link name="drawer_oven_center_left_link">
    <inertial>
      <mass value="1.0"/>
      <inertia ixx="0.000708333333333" ixy="0" ixz="0" iyy="0.0243333333333" iyz="0" izz="0.024975"/>
    </inertial>
    <visual>
      <origin rpy="0 0 0" xyz="-0.27 -0.24 0"/>
      <geometry>
        <box size="0.54 0.02 0.09"/>
      </geometry>
      <material name="KitchenDarkGray"/>
    </visual>
    <collision>
      <origin rpy="0 0 0" xyz="-0.27 -0.24 0"/>
      <geometry>
        <box size="0.54 0.02 0.09"/>
      </geometry>
    </collision>
  </link>
  <gazebo reference="drawer_oven_center_left_link">
    <material value="Ias/KitchenLightGray"/>
  </gazebo>
  <joint name="drawer_oven_center_right_fixed_joint" type="fixed">
    <origin rpy="0 0 0" xyz="0 0 0"/>
    <parent link="drawer_oven_center_link"/>
    <child link="drawer_oven_center_right_link"/>
  </joint>
  <link name="drawer_oven_center_right_link">
    <inertial>
      <mass value="1.0"/>
      <inertia ixx="0.000708333333333" ixy="0" ixz="0" iyy="0.0243333333333" iyz="0" izz="0.024975"/>
    </inertial>
    <visual>
      <origin rpy="0 0 0" xyz="-0.27 0.24 0"/>
      <geometry>
        <box size="0.54 0.02 0.09"/>
      </geometry>
      <material name="KitchenDarkGray"/>
    </visual>
    <collision>
      <origin rpy="0 0 0" xyz="-0.27 0.24 0"/>
      <geometry>
        <box size="0.54 0.02 0.09"/>
      </geometry>
    </collision>
  </link>
  <gazebo reference="drawer_oven_center_right_link">
    <material value="Ias/KitchenLightGray"/>
  </gazebo>
  <joint name="drawer_oven_center_back_fixed_joint" type="fixed">
    <origin rpy="0 0 0" xyz="0 0 0"/>
    <parent link="drawer_oven_center_link"/>
    <child link="drawer_oven_center_back_link"/>
  </joint>
  <link name="drawer_oven_center_back_link">
    <inertial>
      <mass value="1.0"/>
      <inertia ixx="0.0215083333333" ixy="0" ixz="0" iyy="0.0208666666667" iyz="0" izz="0.000708333333333"/>
    </inertial>
    <visual>
      <origin rpy="0 0 0" xyz="-0.54 0 0"/>
      <geometry>
        <box size="0.02 0.5 0.09"/>
      </geometry>
      <material name="KitchenDarkGray"/>
    </visual>
    <collision>
      <origin rpy="0 0 0" xyz="-0.54 0 0"/>
      <geometry>
        <box size="0.02 0.5 0.09"/>
      </geometry>
    </collision>
  </link>
  <gazebo reference="drawer_oven_center_back_link">
    <material value="Ias/KitchenLightGray"/>
  </gazebo>
  <joint name="drawer_oven_center_bottom_fixed_joint" type="fixed">
    <origin rpy="0 0 0" xyz="0 0 0"/>
    <parent link="drawer_oven_center_link"/>
    <child link="drawer_oven_center_bottom_link"/>
  </joint>
  <link name="drawer_oven_center_bottom_link">
    <inertial>
      <mass value="1.0"/>
      <inertia ixx="0.0208666666667" ixy="0" ixz="0" iyy="0.0451333333333" iyz="0" izz="0.0243333333333"/>
    </inertial>
    <visual>
      <origin rpy="0 0 0" xyz="-0.27 0 -0.035"/>
      <geometry>
        <box size="0.54 0.5 0.02"/>
      </geometry>
      <material name="KitchenDarkGray"/>
    </visual>
    <collision>
      <origin rpy="0 0 0" xyz="-0.27 0 -0.035"/>
      <geometry>
        <box size="0.54 0.5 0.02"/>
      </geometry>
    </collision>
  </link>
  <gazebo reference="drawer_oven_center_bottom_link">
    <material value="Ias/KitchenLightGray"/>
  </gazebo>
  <joint name="drawer_oven_center_handle_drawer_oven_center_joint" type="fixed">
    <origin rpy="0 0 0" xyz="0.0625 0.0 0.0175"/>
    <parent link="drawer_oven_center_link"/>
    <child link="handle_drawer_oven_center_link"/>
  </joint>
  <link name="handle_drawer_oven_center_link">
    <inertial>
      <mass value="0.1"/>
      <inertia ixx="0.00212604166667" ixy="0" ixz="0" iyy="0.00212604166667" iyz="0" izz="1.66666666667e-06"/>
    </inertial>
    <visual>
      <origin rpy="0 0 0" xyz="0 0 0"/>
      <geometry>
        <box size="0.01 0.505 0.01"/>
      </geometry>
      <material name="KitchenDarkGray"/>
    </visual>
    <collision>
      <origin rpy="0 0 0" xyz="0 0 0"/>
      <geometry>
        <box size="0.015 0.51 0.015"/>
      </geometry>
    </collision>
  </link>
  <gazebo reference="handle_drawer_oven_center_link">
    <material value="Ias/KitchenDarkGray"/>
  </gazebo>
  <joint name="oven_block_drawer_oven_oven_fixed_joint" type="fixed">
    <origin rpy="0 0 0" xyz="0.57 0.6 1.17"/>
    <parent link="oven_block_link"/>
    <child link="drawer_oven_oven_fixed_link"/>
  </joint>
  <link name="drawer_oven_oven_fixed_link">
    <inertial>
      <mass value="1"/>
      <inertia ixx="4e-07" ixy="0" ixz="0" iyy="4e-07" iyz="0" izz="4e-07"/>
    </inertial>
  </link>
  <joint name="oven_block_drawer_oven_oven_joint" type="prismatic">
    <origin rpy="0 0 0" xyz="0 0 0"/>
    <parent link="drawer_oven_oven_fixed_link"/>
    <child link="drawer_oven_oven_link"/>
    <axis xyz="0.999 0 0.044"/>
    <!-- the axis needs to be slightly tilted so that the drawers would stay closed in Gazebo-->
    <limit effort="300" lower="0" upper="0.48" velocity="10"/>
  </joint>
  <gazebo reference="oven_block_drawer_oven_oven_joint">
    <erp>0.8</erp>
    <cfm>0.0000001</cfm>
    <stopKp>1000000.0</stopKp>
    <stopKd>1.0</stopKd>
  </gazebo>
  <link name="drawer_oven_oven_link">
    <inertial>
      <mass value="1.0"/>
      <inertia ixx="0.0620333333333" ixy="0" ixz="0" iyy="0.0300333333333" iyz="0" izz="0.0320666666667"/>
    </inertial>
    <visual>
      <origin rpy="0 0 0" xyz="0 0 0"/>
      <geometry>
        <box size="0.02 0.595 0.615"/>
      </geometry>
      <material name="KitchenLightGray"/>
    </visual>
    <collision>
      <origin rpy="0 0 0" xyz="0 0 0"/>
      <geometry>
        <box size="0.02 0.6 0.62"/>
      </geometry>
    </collision>
  </link>
  <gazebo reference="drawer_oven_oven_link">
    <material value="Ias/KitchenLightGray"/>
  </gazebo>
  <joint name="drawer_oven_oven_left_fixed_joint" type="fixed">
    <origin rpy="0 0 0" xyz="0 0 0"/>
    <parent link="drawer_oven_oven_link"/>
    <child link="drawer_oven_oven_left_link"/>
  </joint>
  <link name="drawer_oven_oven_left_link">
    <inertial>
      <mass value="1.0"/>
      <inertia ixx="0.0271083333333" ixy="0" ixz="0" iyy="0.0243333333333" iyz="0" izz="0.051375"/>
    </inertial>
    <visual>
      <origin rpy="0 0 0" xyz="-0.27 -0.24 0"/>
      <geometry>
        <box size="0.54 0.02 0.57"/>
      </geometry>
      <material name="KitchenDarkGray"/>
    </visual>
    <collision>
      <origin rpy="0 0 0" xyz="-0.27 -0.24 0"/>
      <geometry>
        <box size="0.54 0.02 0.57"/>
      </geometry>
    </collision>
  </link>
  <gazebo reference="drawer_oven_oven_left_link">
    <material value="Ias/KitchenLightGray"/>
  </gazebo>
  <joint name="drawer_oven_oven_right_fixed_joint" type="fixed">
    <origin rpy="0 0 0" xyz="0 0 0"/>
    <parent link="drawer_oven_oven_link"/>
    <child link="drawer_oven_oven_right_link"/>
  </joint>
  <link name="drawer_oven_oven_right_link">
    <inertial>
      <mass value="1.0"/>
      <inertia ixx="0.0271083333333" ixy="0" ixz="0" iyy="0.0243333333333" iyz="0" izz="0.051375"/>
    </inertial>
    <visual>
      <origin rpy="0 0 0" xyz="-0.27 0.24 0"/>
      <geometry>
        <box size="0.54 0.02 0.57"/>
      </geometry>
      <material name="KitchenDarkGray"/>
    </visual>
    <collision>
      <origin rpy="0 0 0" xyz="-0.27 0.24 0"/>
      <geometry>
        <box size="0.54 0.02 0.57"/>
      </geometry>
    </collision>
  </link>
  <gazebo reference="drawer_oven_oven_right_link">
    <material value="Ias/KitchenLightGray"/>
  </gazebo>
  <joint name="drawer_oven_oven_back_fixed_joint" type="fixed">
    <origin rpy="0 0 0" xyz="0 0 0"/>
    <parent link="drawer_oven_oven_link"/>
    <child link="drawer_oven_oven_back_link"/>
  </joint>
  <link name="drawer_oven_oven_back_link">
    <inertial>
      <mass value="1.0"/>
      <inertia ixx="0.0479083333333" ixy="0" ixz="0" iyy="0.0208666666667" iyz="0" izz="0.0271083333333"/>
    </inertial>
    <visual>
      <origin rpy="0 0 0" xyz="-0.54 0 0"/>
      <geometry>
        <box size="0.02 0.5 0.57"/>
      </geometry>
      <material name="KitchenDarkGray"/>
    </visual>
    <collision>
      <origin rpy="0 0 0" xyz="-0.54 0 0"/>
      <geometry>
        <box size="0.02 0.5 0.57"/>
      </geometry>
    </collision>
  </link>
  <gazebo reference="drawer_oven_oven_back_link">
    <material value="Ias/KitchenLightGray"/>
  </gazebo>
  <joint name="drawer_oven_oven_bottom_fixed_joint" type="fixed">
    <origin rpy="0 0 0" xyz="0 0 0"/>
    <parent link="drawer_oven_oven_link"/>
    <child link="drawer_oven_oven_bottom_link"/>
  </joint>
  <link name="drawer_oven_oven_bottom_link">
    <inertial>
      <mass value="1.0"/>
      <inertia ixx="0.0208666666667" ixy="0" ixz="0" iyy="0.0451333333333" iyz="0" izz="0.0243333333333"/>
    </inertial>
    <visual>
      <origin rpy="0 0 0" xyz="-0.27 0 -0.275"/>
      <geometry>
        <box size="0.54 0.5 0.02"/>
      </geometry>
      <material name="KitchenDarkGray"/>
    </visual>
    <collision>
      <origin rpy="0 0 0" xyz="-0.27 0 -0.275"/>
      <geometry>
        <box size="0.54 0.5 0.02"/>
      </geometry>
    </collision>
  </link>
  <gazebo reference="drawer_oven_oven_bottom_link">
    <material value="Ias/KitchenLightGray"/>
  </gazebo>
  <joint name="drawer_oven_oven_handle_drawer_oven_oven_joint" type="fixed">
    <origin rpy="0 0 0" xyz="0.0625 0.0 0.2575"/>
    <parent link="drawer_oven_oven_link"/>
    <child link="handle_drawer_oven_oven_link"/>
  </joint>
  <link name="handle_drawer_oven_oven_link">
    <inertial>
      <mass value="0.1"/>
      <inertia ixx="0.00212604166667" ixy="0" ixz="0" iyy="0.00212604166667" iyz="0" izz="1.66666666667e-06"/>
    </inertial>
    <visual>
      <origin rpy="0 0 0" xyz="0 0 0"/>
      <geometry>
        <box size="0.01 0.505 0.01"/>
      </geometry>
      <material name="KitchenDarkGray"/>
    </visual>
    <collision>
      <origin rpy="0 0 0" xyz="0 0 0"/>
      <geometry>
        <box size="0.015 0.51 0.015"/>
      </geometry>
    </collision>
  </link>
  <gazebo reference="handle_drawer_oven_oven_link">
    <material value="Ias/KitchenDarkGray"/>
  </gazebo>
  <joint name="oven_block_drawer_oven_right_fixed_joint" type="fixed">
    <origin rpy="0 0 0" xyz="0.29 1.05 0.815"/>
    <parent link="oven_block_link"/>
    <child link="drawer_oven_right_fixed_link"/>
  </joint>
  <link name="drawer_oven_right_fixed_link">
    <inertial>
      <mass value="0.1"/>
      <inertia ixx="4e-08" ixy="0" ixz="0" iyy="4e-08" iyz="0" izz="4e-08"/>
    </inertial>
  </link>
  <joint name="oven_block_drawer_oven_right_joint" type="prismatic">
    <origin rpy="0 0 0" xyz="0 0 0"/>
    <parent link="drawer_oven_right_fixed_link"/>
    <child link="drawer_oven_right_link"/>
    <axis xyz="0.999 0 0.044"/>
    <!-- the axis needs to be slightly tilted so that the drawers would stay closed in Gazebo-->
    <limit effort="300" lower="0" upper="0.48" velocity="10"/>
  </joint>
  <link name="drawer_oven_right_link">
    <inertial>
      <mass value="1.0"/>
      <inertia ixx="0.153554166667" ixy="0" ixz="0" iyy="0.0348041666667" iyz="0" izz="0.173854166667"/>
    </inertial>
    <visual>
      <origin rpy="0 0 0" xyz="0 0 0"/>
      <geometry>
        <box size="0.575 0.295 1.325"/>
      </geometry>
      <material name="KitchenLightGray"/>
    </visual>
    <collision>
      <origin rpy="0 0 0" xyz="0 0 0"/>
      <geometry>
        <box size="0.58 0.3 1.33"/>
      </geometry>
    </collision>
  </link>
  <gazebo reference="drawer_oven_right_link">
    <material value="Ias/KitchenLightGray"/>
  </gazebo>
  <joint name="drawer_oven_right_handle_drawer_oven_right_joint" type="fixed">
    <origin rpy="0 0 0" xyz="0.3525 0.0 0.0"/>
    <parent link="drawer_oven_right_link"/>
    <child link="handle_drawer_oven_right_link"/>
  </joint>
  <link name="handle_drawer_oven_right_link">
    <inertial>
      <mass value="0.1"/>
      <inertia ixx="0.0127110416667" ixy="0" ixz="0" iyy="1.66666666667e-06" iyz="0" izz="0.0127110416667"/>
    </inertial>
    <visual>
      <origin rpy="0 0 0" xyz="0 0 0"/>
      <geometry>
        <box size="0.01 0.01 1.235"/>
      </geometry>
      <material name="KitchenDarkGray"/>
    </visual>
    <collision>
      <origin rpy="0 0 0" xyz="0 0 0"/>
      <geometry>
        <box size="0.015 0.015 1.24"/>
      </geometry>
    </collision>
  </link>
  <gazebo reference="handle_drawer_oven_right_link">
    <material value="Ias/KitchenDarkGray"/>
  </gazebo>
  <joint name="oven_block_skirting_oven_joint" type="fixed">
    <origin rpy="0 0 0" xyz="0.255 0.6 0.075"/>
    <parent link="oven_block_link"/>
    <child link="skirting_oven_link"/>
  </joint>
  <link name="skirting_oven_link">
    <inertial>
      <mass value="10"/>
      <inertia ixx="1.21875" ixy="0" ixz="0" iyy="1.41675" iyz="0" izz="0.2355"/>
    </inertial>
    <visual>
      <origin rpy="0 0 0" xyz="0 0 0"/>
      <geometry>
        <box size="0.51 1.2 0.15"/>
      </geometry>
      <material name="KitchenDarkGray"/>
    </visual>
    <collision>
      <origin rpy="0 0 0" xyz="0 0 0"/>
      <geometry>
        <box size="0.51 1.2 0.15"/>
      </geometry>
    </collision>
  </link>
  <gazebo reference="skirting_oven_link">
    <material value="Ias/KitchenDarkGray"/>
  </gazebo>
  <joint name="oven_block_joint" type="fixed">
    <origin rpy="0 0 0" xyz="-5.27 -6.85 0"/> <!-- -5.27 -6.85 0-->
    <parent link="kitchen_link"/>
    <child link="oven_block_link"/>
  </joint>
  <link name="oven_block_link">
    <inertial>
      <mass value="0"/>
      <inertia ixx="0.0" ixy="0" ixz="0" iyy="0.0" iyz="0" izz="0.0"/>
    </inertial>
    <visual>
      <origin rpy="0 0 0" xyz="0 0 0"/>
      <geometry>
        <box size=".1 .1 .1"/>
      </geometry>
    </visual>
  </link>
  <joint name="sink_block_sink_joint" type="fixed">
    <origin rpy="0 0 0" xyz="0 0 0"/>
    <parent link="sink_block_link"/>
    <child link="sink_link"/>
  </joint>
  <link name="sink_link">
    <inertial>
      <mass value="1.0"/>
      <inertia ixx="0.0616354166667" ixy="0" ixz="0" iyy="0.0824666666667" iyz="0" izz="0.0208354166667"/>
    </inertial>
    <visual>
      <origin rpy="0 0 0" xyz=".295 1.485 .8525"/>
      <geometry>
        <box size=".50 .86 0.005"/>
      </geometry>
      <material name="KitchenSink"/>
    </visual>
    <collision>
      <origin rpy="0 0 0" xyz=".295 1.485 .8525"/>
      <geometry>
        <box size=".50 .86 0.005"/>
      </geometry>
    </collision>
  </link>
  <gazebo reference="sink_link">
    <material value="Ias/KitchenSink"/>
  </gazebo>
  <joint name="sink_block_counter_side_sink_left_joint" type="fixed">
    <origin rpy="0 0 0" xyz="0.29 0.015 0.41"/>
    <parent link="sink_block_link"/>
    <child link="counter_side_sink_left_link"/>
  </joint>
  <link name="counter_side_sink_left_link">
    <inertial>
      <mass value="2.0"/>
      <inertia ixx="0.112216666667" ixy="0" ixz="0" iyy="0.0562166666667" iyz="0" izz="0.168133333333"/>
    </inertial>
    <visual>
      <origin rpy="0 0 0" xyz="0 0 0"/>
      <geometry>
        <box size="0.58 0.03 0.82"/>
      </geometry>
      <material name="KitchenDarkGray"/>
    </visual>
    <collision>
      <origin rpy="0 0 0" xyz="0 0 0"/>
      <geometry>
        <box size="0.58 0.03 0.82"/>
      </geometry>
    </collision>
  </link>
  <gazebo reference="counter_side_sink_left_link">
    <material value="Ias/KitchenDarkGray"/>
  </gazebo>
  <joint name="sink_block_counter_side_sink_right_joint" type="fixed">
    <origin rpy="0 0 0" xyz="0.29 2.045 0.41"/>
    <parent link="sink_block_link"/>
    <child link="counter_side_sink_right_link"/>
  </joint>
  <link name="counter_side_sink_right_link">
    <inertial>
      <mass value="2.0"/>
      <inertia ixx="0.112216666667" ixy="0" ixz="0" iyy="0.0562166666667" iyz="0" izz="0.168133333333"/>
    </inertial>
    <visual>
      <origin rpy="0 0 0" xyz="0 0 0"/>
      <geometry>
        <box size="0.58 0.03 0.82"/>
      </geometry>
      <material name="KitchenDarkGray"/>
    </visual>
    <collision>
      <origin rpy="0 0 0" xyz="0 0 0"/>
      <geometry>
        <box size="0.58 0.03 0.82"/>
      </geometry>
    </collision>
  </link>
  <gazebo reference="counter_side_sink_right_link">
    <material value="Ias/KitchenDarkGray"/>
  </gazebo>
  <joint name="sink_block_counter_top_sink_joint" type="fixed">
    <origin rpy="0 0 0" xyz="0.29 1.03 0.835"/>
    <parent link="sink_block_link"/>
    <child link="counter_top_sink_link"/>
  </joint>
  <link name="counter_top_sink_link">
    <inertial>
      <mass value="2.0"/>
      <inertia ixx="0.707416666667" ixy="0" ixz="0" iyy="0.763333333333" iyz="0" izz="0.0562166666667"/>
    </inertial>
    <visual>
      <origin rpy="0 0 0" xyz="0 0 0"/>
      <geometry>
        <box size="0.58 2.06 0.03"/>
      </geometry>
      <material name="KitchenDarkGray"/>
    </visual>
    <collision>
      <origin rpy="0 0 0" xyz="0 0 0"/>
      <geometry>
        <box size="0.58 2.06 0.03"/>
      </geometry>
    </collision>
  </link>
  <gazebo reference="counter_top_sink_link">
    <kp>100000</kp>
    <kd>1000000</kd>
    <mu1>50000</mu1>
    <mu2>50000</mu2>
    <material value="Ias/KitchenDarkGray"/>
  </gazebo>
  <joint name="sink_block_white_counter_top_sink_joint" type="fixed">
    <origin rpy="0 0 0" xyz="0.29 1.03 0.851"/>
    <parent link="sink_block_link"/>
    <child link="white_counter_top_sink_link"/>
  </joint>
  <link name="white_counter_top_sink_link">
    <inertial>
      <mass value="2.0"/>
      <inertia ixx="0.707267333333" ixy="0" ixz="0" iyy="0.763333333333" iyz="0" izz="0.0560673333333"/>
    </inertial>
    <visual>
      <origin rpy="0 0 0" xyz="0 0 0"/>
      <geometry>
        <box size="0.58 2.06 0.002"/>
      </geometry>
      <material name="KitchenWhite"/>
    </visual>
    <collision>
      <origin rpy="0 0 0" xyz="0 0 0"/>
      <geometry>
        <box size="0.58 2.06 0.002"/>
      </geometry>
    </collision>
  </link>
  <gazebo reference="white_counter_top_sink_link">
    <kp>100000</kp>
    <kd>1000000</kd>
    <mu1>50000</mu1>
    <mu2>50000</mu2>
    <material value="Ias/KitchenWhite"/>
  </gazebo>
  <joint name="sink_block_drawer_sink_col1_bottom_fixed_joint" type="fixed">
    <origin rpy="0 0 0" xyz="0.57 0.43 0.245"/>
    <parent link="sink_block_link"/>
    <child link="drawer_sink_col1_bottom_fixed_link"/>
  </joint>
  <link name="drawer_sink_col1_bottom_fixed_link">
    <inertial>
      <mass value="1"/>
      <inertia ixx="4e-07" ixy="0" ixz="0" iyy="4e-07" iyz="0" izz="4e-07"/>
    </inertial>
  </link>
  <joint name="sink_block_drawer_sink_col1_bottom_joint" type="prismatic">
    <origin rpy="0 0 0" xyz="0 0 0"/>
    <parent link="drawer_sink_col1_bottom_fixed_link"/>
    <child link="drawer_sink_col1_bottom_link"/>
    <axis xyz="0.999 0 0.044"/>
    <!-- the axis needs to be slightly tilted so that the drawers would stay closed in Gazebo-->
    <limit effort="300" lower="0" upper="0.48" velocity="10"/>
  </joint>
  <gazebo reference="sink_block_drawer_sink_col1_bottom_joint">
    <erp>0.8</erp>
    <cfm>0.0000001</cfm>
    <stopKp>1000000.0</stopKp>
    <stopKd>1.0</stopKd>
  </gazebo>
  <link name="drawer_sink_col1_bottom_link">
    <inertial>
      <mass value="1.0"/>
      <inertia ixx="0.0603416666667" ixy="0" ixz="0" iyy="0.0533666666667" iyz="0" izz="0.00704166666667"/>
    </inertial>
    <visual>
      <origin rpy="0 0 0" xyz="0 0 0"/>
      <geometry>
        <box size="0.02 0.795 0.285"/>
      </geometry>
      <material name="KitchenLightGray"/>
    </visual>
    <collision>
      <origin rpy="0 0 0" xyz="0 0 0"/>
      <geometry>
        <box size="0.02 0.8 0.29"/>
      </geometry>
    </collision>
  </link>
  <gazebo reference="drawer_sink_col1_bottom_link">
    <material value="Ias/KitchenLightGray"/>
  </gazebo>
  <joint name="drawer_sink_col1_bottom_left_fixed_joint" type="fixed">
    <origin rpy="0 0 0" xyz="0 0 0"/>
    <parent link="drawer_sink_col1_bottom_link"/>
    <child link="drawer_sink_col1_bottom_left_link"/>
  </joint>
  <link name="drawer_sink_col1_bottom_left_link">
    <inertial>
      <mass value="1.0"/>
      <inertia ixx="0.00483333333333" ixy="0" ixz="0" iyy="0.0243333333333" iyz="0" izz="0.0291"/>
    </inertial>
    <visual>
      <origin rpy="0 0 0" xyz="-0.27 -0.34 0"/>
      <geometry>
        <box size="0.54 0.02 0.24"/>
      </geometry>
      <material name="KitchenDarkGray"/>
    </visual>
    <collision>
      <origin rpy="0 0 0" xyz="-0.27 -0.34 0"/>
      <geometry>
        <box size="0.54 0.02 0.24"/>
      </geometry>
    </collision>
  </link>
  <gazebo reference="drawer_sink_col1_bottom_left_link">
    <material value="Ias/KitchenLightGray"/>
  </gazebo>
  <joint name="drawer_sink_col1_bottom_right_fixed_joint" type="fixed">
    <origin rpy="0 0 0" xyz="0 0 0"/>
    <parent link="drawer_sink_col1_bottom_link"/>
    <child link="drawer_sink_col1_bottom_right_link"/>
  </joint>
  <link name="drawer_sink_col1_bottom_right_link">
    <inertial>
      <mass value="1.0"/>
      <inertia ixx="0.00483333333333" ixy="0" ixz="0" iyy="0.0243333333333" iyz="0" izz="0.0291"/>
    </inertial>
    <visual>
      <origin rpy="0 0 0" xyz="-0.27 0.34 0"/>
      <geometry>
        <box size="0.54 0.02 0.24"/>
      </geometry>
      <material name="KitchenDarkGray"/>
    </visual>
    <collision>
      <origin rpy="0 0 0" xyz="-0.27 0.34 0"/>
      <geometry>
        <box size="0.54 0.02 0.24"/>
      </geometry>
    </collision>
  </link>
  <gazebo reference="drawer_sink_col1_bottom_right_link">
    <material value="Ias/KitchenLightGray"/>
  </gazebo>
  <joint name="drawer_sink_col1_bottom_back_fixed_joint" type="fixed">
    <origin rpy="0 0 0" xyz="0 0 0"/>
    <parent link="drawer_sink_col1_bottom_link"/>
    <child link="drawer_sink_col1_bottom_back_link"/>
  </joint>
  <link name="drawer_sink_col1_bottom_back_link">
    <inertial>
      <mass value="1.0"/>
      <inertia ixx="0.0456333333333" ixy="0" ixz="0" iyy="0.0408666666667" iyz="0" izz="0.00483333333333"/>
    </inertial>
    <visual>
      <origin rpy="0 0 0" xyz="-0.54 0 0"/>
      <geometry>
        <box size="0.02 0.7 0.24"/>
      </geometry>
      <material name="KitchenDarkGray"/>
    </visual>
    <collision>
      <origin rpy="0 0 0" xyz="-0.54 0 0"/>
      <geometry>
        <box size="0.02 0.7 0.24"/>
      </geometry>
    </collision>
  </link>
  <gazebo reference="drawer_sink_col1_bottom_back_link">
    <material value="Ias/KitchenLightGray"/>
  </gazebo>
  <joint name="drawer_sink_col1_bottom_bottom_fixed_joint" type="fixed">
    <origin rpy="0 0 0" xyz="0 0 0"/>
    <parent link="drawer_sink_col1_bottom_link"/>
    <child link="drawer_sink_col1_bottom_bottom_link"/>
  </joint>
  <link name="drawer_sink_col1_bottom_bottom_link">
    <inertial>
      <mass value="1.0"/>
      <inertia ixx="0.0408666666667" ixy="0" ixz="0" iyy="0.0651333333333" iyz="0" izz="0.0243333333333"/>
    </inertial>
    <visual>
      <origin rpy="0 0 0" xyz="-0.27 0 -0.11"/>
      <geometry>
        <box size="0.54 0.7 0.02"/>
      </geometry>
      <material name="KitchenDarkGray"/>
    </visual>
    <collision>
      <origin rpy="0 0 0" xyz="-0.27 0 -0.11"/>
      <geometry>
        <box size="0.54 0.7 0.02"/>
      </geometry>
    </collision>
  </link>
  <gazebo reference="drawer_sink_col1_bottom_bottom_link">
    <material value="Ias/KitchenLightGray"/>
  </gazebo>
  <joint name="drawer_sink_col1_bottom_handle_drawer_sink_col1_bottom_joint" type="fixed">
    <origin rpy="0 0 0" xyz="0.0625 0.0 0.0925"/>
    <parent link="drawer_sink_col1_bottom_link"/>
    <child link="handle_drawer_sink_col1_bottom_link"/>
  </joint>
  <link name="handle_drawer_sink_col1_bottom_link">
    <inertial>
      <mass value="0.1"/>
      <inertia ixx="0.00414270833333" ixy="0" ixz="0" iyy="0.00414270833333" iyz="0" izz="1.66666666667e-06"/>
    </inertial>
    <visual>
      <origin rpy="0 0 0" xyz="0 0 0"/>
      <geometry>
        <box size="0.01 0.705 0.01"/>
      </geometry>
      <material name="KitchenDarkGray"/>
    </visual>
    <collision>
      <origin rpy="0 0 0" xyz="0 0 0"/>
      <geometry>
        <box size="0.015 0.71 0.015"/>
      </geometry>
    </collision>
  </link>
  <gazebo reference="handle_drawer_sink_col1_bottom_link">
    <material value="Ias/KitchenDarkGray"/>
  </gazebo>
  <joint name="sink_block_drawer_sink_col1_center_fixed_joint" type="fixed">
    <origin rpy="0 0 0" xyz="0.57 0.43 0.535"/>
    <parent link="sink_block_link"/>
    <child link="drawer_sink_col1_center_fixed_link"/>
  </joint>
  <link name="drawer_sink_col1_center_fixed_link">
    <inertial>
      <mass value="1"/>
      <inertia ixx="4e-07" ixy="0" ixz="0" iyy="4e-07" iyz="0" izz="4e-07"/>
    </inertial>
  </link>
  <joint name="sink_block_drawer_sink_col1_center_joint" type="prismatic">
    <origin rpy="0 0 0" xyz="0 0 0"/>
    <parent link="drawer_sink_col1_center_fixed_link"/>
    <child link="drawer_sink_col1_center_link"/>
    <axis xyz="0.999 0 0.044"/>
    <!-- the axis needs to be slightly tilted so that the drawers would stay closed in Gazebo-->
    <limit effort="300" lower="0" upper="0.48" velocity="10"/>
  </joint>
  <gazebo reference="sink_block_drawer_sink_col1_center_joint">
    <erp>0.8</erp>
    <cfm>0.0000001</cfm>
    <stopKp>1000000.0</stopKp>
    <stopKd>1.0</stopKd>
  </gazebo>
  <link name="drawer_sink_col1_center_link">
    <inertial>
      <mass value="1.0"/>
      <inertia ixx="0.0603416666667" ixy="0" ixz="0" iyy="0.0533666666667" iyz="0" izz="0.00704166666667"/>
    </inertial>
    <visual>
      <origin rpy="0 0 0" xyz="0 0 0"/>
      <geometry>
        <box size="0.02 0.795 0.285"/>
      </geometry>
      <material name="KitchenLightGray"/>
    </visual>
    <collision>
      <origin rpy="0 0 0" xyz="0 0 0"/>
      <geometry>
        <box size="0.02 0.8 0.29"/>
      </geometry>
    </collision>
  </link>
  <gazebo reference="drawer_sink_col1_center_link">
    <material value="Ias/KitchenLightGray"/>
  </gazebo>
  <joint name="drawer_sink_col1_center_left_fixed_joint" type="fixed">
    <origin rpy="0 0 0" xyz="0 0 0"/>
    <parent link="drawer_sink_col1_center_link"/>
    <child link="drawer_sink_col1_center_left_link"/>
  </joint>
  <link name="drawer_sink_col1_center_left_link">
    <inertial>
      <mass value="1.0"/>
      <inertia ixx="0.00483333333333" ixy="0" ixz="0" iyy="0.0243333333333" iyz="0" izz="0.0291"/>
    </inertial>
    <visual>
      <origin rpy="0 0 0" xyz="-0.27 -0.34 0"/>
      <geometry>
        <box size="0.54 0.02 0.24"/>
      </geometry>
      <material name="KitchenDarkGray"/>
    </visual>
    <collision>
      <origin rpy="0 0 0" xyz="-0.27 -0.34 0"/>
      <geometry>
        <box size="0.54 0.02 0.24"/>
      </geometry>
    </collision>
  </link>
  <gazebo reference="drawer_sink_col1_center_left_link">
    <material value="Ias/KitchenLightGray"/>
  </gazebo>
  <joint name="drawer_sink_col1_center_right_fixed_joint" type="fixed">
    <origin rpy="0 0 0" xyz="0 0 0"/>
    <parent link="drawer_sink_col1_center_link"/>
    <child link="drawer_sink_col1_center_right_link"/>
  </joint>
  <link name="drawer_sink_col1_center_right_link">
    <inertial>
      <mass value="1.0"/>
      <inertia ixx="0.00483333333333" ixy="0" ixz="0" iyy="0.0243333333333" iyz="0" izz="0.0291"/>
    </inertial>
    <visual>
      <origin rpy="0 0 0" xyz="-0.27 0.34 0"/>
      <geometry>
        <box size="0.54 0.02 0.24"/>
      </geometry>
      <material name="KitchenDarkGray"/>
    </visual>
    <collision>
      <origin rpy="0 0 0" xyz="-0.27 0.34 0"/>
      <geometry>
        <box size="0.54 0.02 0.24"/>
      </geometry>
    </collision>
  </link>
  <gazebo reference="drawer_sink_col1_center_right_link">
    <material value="Ias/KitchenLightGray"/>
  </gazebo>
  <joint name="drawer_sink_col1_center_back_fixed_joint" type="fixed">
    <origin rpy="0 0 0" xyz="0 0 0"/>
    <parent link="drawer_sink_col1_center_link"/>
    <child link="drawer_sink_col1_center_back_link"/>
  </joint>
  <link name="drawer_sink_col1_center_back_link">
    <inertial>
      <mass value="1.0"/>
      <inertia ixx="0.0456333333333" ixy="0" ixz="0" iyy="0.0408666666667" iyz="0" izz="0.00483333333333"/>
    </inertial>
    <visual>
      <origin rpy="0 0 0" xyz="-0.54 0 0"/>
      <geometry>
        <box size="0.02 0.7 0.24"/>
      </geometry>
      <material name="KitchenDarkGray"/>
    </visual>
    <collision>
      <origin rpy="0 0 0" xyz="-0.54 0 0"/>
      <geometry>
        <box size="0.02 0.7 0.24"/>
      </geometry>
    </collision>
  </link>
  <gazebo reference="drawer_sink_col1_center_back_link">
    <material value="Ias/KitchenLightGray"/>
  </gazebo>
  <joint name="drawer_sink_col1_center_bottom_fixed_joint" type="fixed">
    <origin rpy="0 0 0" xyz="0 0 0"/>
    <parent link="drawer_sink_col1_center_link"/>
    <child link="drawer_sink_col1_center_bottom_link"/>
  </joint>
  <link name="drawer_sink_col1_center_bottom_link">
    <inertial>
      <mass value="1.0"/>
      <inertia ixx="0.0408666666667" ixy="0" ixz="0" iyy="0.0651333333333" iyz="0" izz="0.0243333333333"/>
    </inertial>
    <visual>
      <origin rpy="0 0 0" xyz="-0.27 0 -0.11"/>
      <geometry>
        <box size="0.54 0.7 0.02"/>
      </geometry>
      <material name="KitchenDarkGray"/>
    </visual>
    <collision>
      <origin rpy="0 0 0" xyz="-0.27 0 -0.11"/>
      <geometry>
        <box size="0.54 0.7 0.02"/>
      </geometry>
    </collision>
  </link>
  <gazebo reference="drawer_sink_col1_center_bottom_link">
    <material value="Ias/KitchenLightGray"/>
  </gazebo>
  <joint name="drawer_sink_col1_center_handle_drawer_sink_col1_center_joint" type="fixed">
    <origin rpy="0 0 0" xyz="0.0625 0.0 0.0925"/>
    <parent link="drawer_sink_col1_center_link"/>
    <child link="handle_drawer_sink_col1_center_link"/>
  </joint>
  <link name="handle_drawer_sink_col1_center_link">
    <inertial>
      <mass value="0.1"/>
      <inertia ixx="0.00414270833333" ixy="0" ixz="0" iyy="0.00414270833333" iyz="0" izz="1.66666666667e-06"/>
    </inertial>
    <visual>
      <origin rpy="0 0 0" xyz="0 0 0"/>
      <geometry>
        <box size="0.01 0.705 0.01"/>
      </geometry>
      <material name="KitchenDarkGray"/>
    </visual>
    <collision>
      <origin rpy="0 0 0" xyz="0 0 0"/>
      <geometry>
        <box size="0.015 0.71 0.015"/>
      </geometry>
    </collision>
  </link>
  <gazebo reference="handle_drawer_sink_col1_center_link">
    <material value="Ias/KitchenDarkGray"/>
  </gazebo>
  <joint name="sink_block_drawer_sink_col1_top_fixed_joint" type="fixed">
    <origin rpy="0 0 0" xyz="0.57 0.43 0.75"/>
    <parent link="sink_block_link"/>
    <child link="drawer_sink_col1_top_fixed_link"/>
  </joint>
  <link name="drawer_sink_col1_top_fixed_link">
    <inertial>
      <mass value="1"/>
      <inertia ixx="4e-07" ixy="0" ixz="0" iyy="4e-07" iyz="0" izz="4e-07"/>
    </inertial>
  </link>
  <joint name="sink_block_drawer_sink_col1_top_joint" type="prismatic">
    <origin rpy="0 0 0" xyz="0 0 0"/>
    <parent link="drawer_sink_col1_top_fixed_link"/>
    <child link="drawer_sink_col1_top_link"/>
    <axis xyz="0.999 0 0.044"/>
    <!-- the axis needs to be slightly tilted so that the drawers would stay closed in Gazebo-->
    <limit effort="300" lower="0" upper="0.48" velocity="10"/>
  </joint>
  <gazebo reference="sink_block_drawer_sink_col1_top_joint">
    <erp>0.8</erp>
    <cfm>0.0000001</cfm>
    <stopKp>1000000.0</stopKp>
    <stopKd>1.0</stopKd>
  </gazebo>
  <link name="drawer_sink_col1_top_link">
    <inertial>
      <mass value="1.0"/>
      <inertia ixx="0.0549666666667" ixy="0" ixz="0" iyy="0.0533666666667" iyz="0" izz="0.00166666666667"/>
    </inertial>
    <visual>
      <origin rpy="0 0 0" xyz="0 0 0"/>
      <geometry>
        <box size="0.02 0.795 0.135"/>
      </geometry>
      <material name="KitchenLightGray"/>
    </visual>
    <collision>
      <origin rpy="0 0 0" xyz="0 0 0"/>
      <geometry>
        <box size="0.02 0.8 0.14"/>
      </geometry>
    </collision>
  </link>
  <gazebo reference="drawer_sink_col1_top_link">
    <material value="Ias/KitchenLightGray"/>
  </gazebo>
  <joint name="drawer_sink_col1_top_left_fixed_joint" type="fixed">
    <origin rpy="0 0 0" xyz="0 0 0"/>
    <parent link="drawer_sink_col1_top_link"/>
    <child link="drawer_sink_col1_top_left_link"/>
  </joint>
  <link name="drawer_sink_col1_top_left_link">
    <inertial>
      <mass value="1.0"/>
      <inertia ixx="0.000708333333333" ixy="0" ixz="0" iyy="0.0243333333333" iyz="0" izz="0.024975"/>
    </inertial>
    <visual>
      <origin rpy="0 0 0" xyz="-0.27 -0.34 0"/>
      <geometry>
        <box size="0.54 0.02 0.09"/>
      </geometry>
      <material name="KitchenDarkGray"/>
    </visual>
    <collision>
      <origin rpy="0 0 0" xyz="-0.27 -0.34 0"/>
      <geometry>
        <box size="0.54 0.02 0.09"/>
      </geometry>
    </collision>
  </link>
  <gazebo reference="drawer_sink_col1_top_left_link">
    <material value="Ias/KitchenLightGray"/>
  </gazebo>
  <joint name="drawer_sink_col1_top_right_fixed_joint" type="fixed">
    <origin rpy="0 0 0" xyz="0 0 0"/>
    <parent link="drawer_sink_col1_top_link"/>
    <child link="drawer_sink_col1_top_right_link"/>
  </joint>
  <link name="drawer_sink_col1_top_right_link">
    <inertial>
      <mass value="1.0"/>
      <inertia ixx="0.000708333333333" ixy="0" ixz="0" iyy="0.0243333333333" iyz="0" izz="0.024975"/>
    </inertial>
    <visual>
      <origin rpy="0 0 0" xyz="-0.27 0.34 0"/>
      <geometry>
        <box size="0.54 0.02 0.09"/>
      </geometry>
      <material name="KitchenDarkGray"/>
    </visual>
    <collision>
      <origin rpy="0 0 0" xyz="-0.27 0.34 0"/>
      <geometry>
        <box size="0.54 0.02 0.09"/>
      </geometry>
    </collision>
  </link>
  <gazebo reference="drawer_sink_col1_top_right_link">
    <material value="Ias/KitchenLightGray"/>
  </gazebo>
  <joint name="drawer_sink_col1_top_back_fixed_joint" type="fixed">
    <origin rpy="0 0 0" xyz="0 0 0"/>
    <parent link="drawer_sink_col1_top_link"/>
    <child link="drawer_sink_col1_top_back_link"/>
  </joint>
  <link name="drawer_sink_col1_top_back_link">
    <inertial>
      <mass value="1.0"/>
      <inertia ixx="0.0415083333333" ixy="0" ixz="0" iyy="0.0408666666667" iyz="0" izz="0.000708333333333"/>
    </inertial>
    <visual>
      <origin rpy="0 0 0" xyz="-0.54 0 0"/>
      <geometry>
        <box size="0.02 0.7 0.09"/>
      </geometry>
      <material name="KitchenDarkGray"/>
    </visual>
    <collision>
      <origin rpy="0 0 0" xyz="-0.54 0 0"/>
      <geometry>
        <box size="0.02 0.7 0.09"/>
      </geometry>
    </collision>
  </link>
  <gazebo reference="drawer_sink_col1_top_back_link">
    <material value="Ias/KitchenLightGray"/>
  </gazebo>
  <joint name="drawer_sink_col1_top_bottom_fixed_joint" type="fixed">
    <origin rpy="0 0 0" xyz="0 0 0"/>
    <parent link="drawer_sink_col1_top_link"/>
    <child link="drawer_sink_col1_top_bottom_link"/>
  </joint>
  <link name="drawer_sink_col1_top_bottom_link">
    <inertial>
      <mass value="1.0"/>
      <inertia ixx="0.0408666666667" ixy="0" ixz="0" iyy="0.0651333333333" iyz="0" izz="0.0243333333333"/>
    </inertial>
    <visual>
      <origin rpy="0 0 0" xyz="-0.27 0 -0.035"/>
      <geometry>
        <box size="0.54 0.7 0.02"/>
      </geometry>
      <material name="KitchenDarkGray"/>
    </visual>
    <collision>
      <origin rpy="0 0 0" xyz="-0.27 0 -0.035"/>
      <geometry>
        <box size="0.54 0.7 0.02"/>
      </geometry>
    </collision>
  </link>
  <gazebo reference="drawer_sink_col1_top_bottom_link">
    <material value="Ias/KitchenLightGray"/>
  </gazebo>
  <joint name="drawer_sink_col1_top_handle_drawer_sink_col1_top_joint" type="fixed">
    <origin rpy="0 0 0" xyz="0.0625 0.0 0.0175"/>
    <parent link="drawer_sink_col1_top_link"/>
    <child link="handle_drawer_sink_col1_top_link"/>
  </joint>
  <link name="handle_drawer_sink_col1_top_link">
    <inertial>
      <mass value="0.1"/>
      <inertia ixx="0.00414270833333" ixy="0" ixz="0" iyy="0.00414270833333" iyz="0" izz="1.66666666667e-06"/>
    </inertial>
    <visual>
      <origin rpy="0 0 0" xyz="0 0 0"/>
      <geometry>
        <box size="0.01 0.705 0.01"/>
      </geometry>
      <material name="KitchenDarkGray"/>
    </visual>
    <collision>
      <origin rpy="0 0 0" xyz="0 0 0"/>
      <geometry>
        <box size="0.015 0.71 0.015"/>
      </geometry>
    </collision>
  </link>
  <gazebo reference="handle_drawer_sink_col1_top_link">
    <material value="Ias/KitchenDarkGray"/>
  </gazebo>
  <joint name="sink_block_drawer_sink_col2_fixed_joint" type="fixed">
    <origin rpy="0 0 0" xyz="0.57 1.13 0.46"/>
    <parent link="sink_block_link"/>
    <child link="drawer_sink_col2_fixed_link"/>
  </joint>
  <link name="drawer_sink_col2_fixed_link">
    <inertial>
      <mass value="1"/>
      <inertia ixx="4e-07" ixy="0" ixz="0" iyy="4e-07" iyz="0" izz="4e-07"/>
    </inertial>
  </link>
  <joint name="sink_block_drawer_sink_col2_joint" type="prismatic">
    <origin rpy="0 0 0" xyz="0 0 0"/>
    <parent link="drawer_sink_col2_fixed_link"/>
    <child link="drawer_sink_col2_link"/>
    <axis xyz="0.999 0 0.044"/>
    <!-- the axis needs to be slightly tilted so that the drawers would stay closed in Gazebo-->
    <limit effort="300" lower="0" upper="0.48" velocity="10"/>
  </joint>
  <gazebo reference="sink_block_drawer_sink_col2_joint">
    <erp>0.8</erp>
    <cfm>0.0000001</cfm>
    <stopKp>1000000.0</stopKp>
    <stopKd>1.0</stopKd>
  </gazebo>
  <link name="drawer_sink_col2_link">
    <inertial>
      <mass value="1.0"/>
      <inertia ixx="0.0732" ixy="0" ixz="0" iyy="0.0300333333333" iyz="0" izz="0.0432333333333"/>
    </inertial>
    <visual>
      <origin rpy="0 0 0" xyz="0 0 0"/>
      <geometry>
        <box size="0.02 0.595 0.715"/>
      </geometry>
      <material name="KitchenLightGray"/>
    </visual>
    <collision>
      <origin rpy="0 0 0" xyz="0 0 0"/>
      <geometry>
        <box size="0.02 0.6 0.72"/>
      </geometry>
    </collision>
  </link>
  <gazebo reference="drawer_sink_col2_link">
    <material value="Ias/KitchenLightGray"/>
  </gazebo>
  <joint name="drawer_sink_col2_left_fixed_joint" type="fixed">
    <origin rpy="0 0 0" xyz="0 0 0"/>
    <parent link="drawer_sink_col2_link"/>
    <child link="drawer_sink_col2_left_link"/>
  </joint>
  <link name="drawer_sink_col2_left_link">
    <inertial>
      <mass value="1.0"/>
      <inertia ixx="0.0374416666667" ixy="0" ixz="0" iyy="0.0243333333333" iyz="0" izz="0.0617083333333"/>
    </inertial>
    <visual>
      <origin rpy="0 0 0" xyz="-0.27 -0.24 0"/>
      <geometry>
        <box size="0.54 0.02 0.67"/>
      </geometry>
      <material name="KitchenDarkGray"/>
    </visual>
    <collision>
      <origin rpy="0 0 0" xyz="-0.27 -0.24 0"/>
      <geometry>
        <box size="0.54 0.02 0.67"/>
      </geometry>
    </collision>
  </link>
  <gazebo reference="drawer_sink_col2_left_link">
    <material value="Ias/KitchenLightGray"/>
  </gazebo>
  <joint name="drawer_sink_col2_right_fixed_joint" type="fixed">
    <origin rpy="0 0 0" xyz="0 0 0"/>
    <parent link="drawer_sink_col2_link"/>
    <child link="drawer_sink_col2_right_link"/>
  </joint>
  <link name="drawer_sink_col2_right_link">
    <inertial>
      <mass value="1.0"/>
      <inertia ixx="0.0374416666667" ixy="0" ixz="0" iyy="0.0243333333333" iyz="0" izz="0.0617083333333"/>
    </inertial>
    <visual>
      <origin rpy="0 0 0" xyz="-0.27 0.24 0"/>
      <geometry>
        <box size="0.54 0.02 0.67"/>
      </geometry>
      <material name="KitchenDarkGray"/>
    </visual>
    <collision>
      <origin rpy="0 0 0" xyz="-0.27 0.24 0"/>
      <geometry>
        <box size="0.54 0.02 0.67"/>
      </geometry>
    </collision>
  </link>
  <gazebo reference="drawer_sink_col2_right_link">
    <material value="Ias/KitchenLightGray"/>
  </gazebo>
  <joint name="drawer_sink_col2_back_fixed_joint" type="fixed">
    <origin rpy="0 0 0" xyz="0 0 0"/>
    <parent link="drawer_sink_col2_link"/>
    <child link="drawer_sink_col2_back_link"/>
  </joint>
  <link name="drawer_sink_col2_back_link">
    <inertial>
      <mass value="1.0"/>
      <inertia ixx="0.0582416666667" ixy="0" ixz="0" iyy="0.0208666666667" iyz="0" izz="0.0374416666667"/>
    </inertial>
    <visual>
      <origin rpy="0 0 0" xyz="-0.54 0 0"/>
      <geometry>
        <box size="0.02 0.5 0.67"/>
      </geometry>
      <material name="KitchenDarkGray"/>
    </visual>
    <collision>
      <origin rpy="0 0 0" xyz="-0.54 0 0"/>
      <geometry>
        <box size="0.02 0.5 0.67"/>
      </geometry>
    </collision>
  </link>
  <gazebo reference="drawer_sink_col2_back_link">
    <material value="Ias/KitchenLightGray"/>
  </gazebo>
  <joint name="drawer_sink_col2_bottom_fixed_joint" type="fixed">
    <origin rpy="0 0 0" xyz="0 0 0"/>
    <parent link="drawer_sink_col2_link"/>
    <child link="drawer_sink_col2_bottom_link"/>
  </joint>
  <link name="drawer_sink_col2_bottom_link">
    <inertial>
      <mass value="1.0"/>
      <inertia ixx="0.0208666666667" ixy="0" ixz="0" iyy="0.0451333333333" iyz="0" izz="0.0243333333333"/>
    </inertial>
    <visual>
      <origin rpy="0 0 0" xyz="-0.27 0 -0.325"/>
      <geometry>
        <box size="0.54 0.5 0.02"/>
      </geometry>
      <material name="KitchenDarkGray"/>
    </visual>
    <collision>
      <origin rpy="0 0 0" xyz="-0.27 0 -0.325"/>
      <geometry>
        <box size="0.54 0.5 0.02"/>
      </geometry>
    </collision>
  </link>
  <gazebo reference="drawer_sink_col2_bottom_link">
    <material value="Ias/KitchenLightGray"/>
  </gazebo>
  <joint name="drawer_sink_col2_handle_drawer_sink_col2_joint" type="fixed">
    <origin rpy="0 0 0" xyz="0.0625 0.0 0.3075"/>
    <parent link="drawer_sink_col2_link"/>
    <child link="handle_drawer_sink_col2_link"/>
  </joint>
  <link name="handle_drawer_sink_col2_link">
    <inertial>
      <mass value="0.1"/>
      <inertia ixx="0.00212604166667" ixy="0" ixz="0" iyy="0.00212604166667" iyz="0" izz="1.66666666667e-06"/>
    </inertial>
    <visual>
      <origin rpy="0 0 0" xyz="0 0 0"/>
      <geometry>
        <box size="0.01 0.505 0.01"/>
      </geometry>
      <material name="KitchenDarkGray"/>
    </visual>
    <collision>
      <origin rpy="0 0 0" xyz="0 0 0"/>
      <geometry>
        <box size="0.015 0.51 0.015"/>
      </geometry>
    </collision>
  </link>
  <gazebo reference="handle_drawer_sink_col2_link">
    <material value="Ias/KitchenDarkGray"/>
  </gazebo>
  <joint name="sink_block_drawer_sink_col3_bottom_fixed_joint" type="fixed">
    <origin rpy="0 0 0" xyz="0.57 1.73 0.39"/>
    <parent link="sink_block_link"/>
    <child link="drawer_sink_col3_bottom_fixed_link"/>
  </joint>
  <link name="drawer_sink_col3_bottom_fixed_link">
    <inertial>
      <mass value="1"/>
      <inertia ixx="4e-07" ixy="0" ixz="0" iyy="4e-07" iyz="0" izz="4e-07"/>
    </inertial>
  </link>
  <joint name="sink_block_drawer_sink_col3_bottom_joint" type="prismatic">
    <origin rpy="0 0 0" xyz="0 0 0"/>
    <parent link="drawer_sink_col3_bottom_fixed_link"/>
    <child link="drawer_sink_col3_bottom_link"/>
    <axis xyz="0.999 0 0.044"/>
    <!-- the axis needs to be slightly tilted so that the drawers would stay closed in Gazebo-->
    <limit effort="300" lower="0" upper="0.48" velocity="10"/>
  </joint>
  <gazebo reference="sink_block_drawer_sink_col3_bottom_joint">
    <erp>0.8</erp>
    <cfm>0.0000001</cfm>
    <stopKp>1000000.0</stopKp>
    <stopKd>1.0</stopKd>
  </gazebo>
  <link name="drawer_sink_col3_bottom_link">
    <inertial>
      <mass value="1.0"/>
      <inertia ixx="0.0580333333333" ixy="0" ixz="0" iyy="0.0300333333333" iyz="0" izz="0.0280666666667"/>
    </inertial>
    <visual>
      <origin rpy="0 0 0" xyz="0 0 0"/>
      <geometry>
        <box size="0.02 0.595 0.575"/>
      </geometry>
      <material name="KitchenLightGray"/>
    </visual>
    <collision>
      <origin rpy="0 0 0" xyz="0 0 0"/>
      <geometry>
        <box size="0.02 0.6 0.58"/>
      </geometry>
    </collision>
  </link>
  <gazebo reference="drawer_sink_col3_bottom_link">
    <material value="Ias/KitchenLightGray"/>
  </gazebo>
  <joint name="drawer_sink_col3_bottom_left_fixed_joint" type="fixed">
    <origin rpy="0 0 0" xyz="0 0 0"/>
    <parent link="drawer_sink_col3_bottom_link"/>
    <child link="drawer_sink_col3_bottom_left_link"/>
  </joint>
  <link name="drawer_sink_col3_bottom_left_link">
    <inertial>
      <mass value="1.0"/>
      <inertia ixx="0.0234416666667" ixy="0" ixz="0" iyy="0.0243333333333" iyz="0" izz="0.0477083333333"/>
    </inertial>
    <visual>
      <origin rpy="0 0 0" xyz="-0.27 -0.24 0"/>
      <geometry>
        <box size="0.54 0.02 0.53"/>
      </geometry>
      <material name="KitchenDarkGray"/>
    </visual>
    <collision>
      <origin rpy="0 0 0" xyz="-0.27 -0.24 0"/>
      <geometry>
        <box size="0.54 0.02 0.53"/>
      </geometry>
    </collision>
  </link>
  <gazebo reference="drawer_sink_col3_bottom_left_link">
    <material value="Ias/KitchenLightGray"/>
  </gazebo>
  <joint name="drawer_sink_col3_bottom_right_fixed_joint" type="fixed">
    <origin rpy="0 0 0" xyz="0 0 0"/>
    <parent link="drawer_sink_col3_bottom_link"/>
    <child link="drawer_sink_col3_bottom_right_link"/>
  </joint>
  <link name="drawer_sink_col3_bottom_right_link">
    <inertial>
      <mass value="1.0"/>
      <inertia ixx="0.0234416666667" ixy="0" ixz="0" iyy="0.0243333333333" iyz="0" izz="0.0477083333333"/>
    </inertial>
    <visual>
      <origin rpy="0 0 0" xyz="-0.27 0.24 0"/>
      <geometry>
        <box size="0.54 0.02 0.53"/>
      </geometry>
      <material name="KitchenDarkGray"/>
    </visual>
    <collision>
      <origin rpy="0 0 0" xyz="-0.27 0.24 0"/>
      <geometry>
        <box size="0.54 0.02 0.53"/>
      </geometry>
    </collision>
  </link>
  <gazebo reference="drawer_sink_col3_bottom_right_link">
    <material value="Ias/KitchenLightGray"/>
  </gazebo>
  <joint name="drawer_sink_col3_bottom_back_fixed_joint" type="fixed">
    <origin rpy="0 0 0" xyz="0 0 0"/>
    <parent link="drawer_sink_col3_bottom_link"/>
    <child link="drawer_sink_col3_bottom_back_link"/>
  </joint>
  <link name="drawer_sink_col3_bottom_back_link">
    <inertial>
      <mass value="1.0"/>
      <inertia ixx="0.0442416666667" ixy="0" ixz="0" iyy="0.0208666666667" iyz="0" izz="0.0234416666667"/>
    </inertial>
    <visual>
      <origin rpy="0 0 0" xyz="-0.54 0 0"/>
      <geometry>
        <box size="0.02 0.5 0.53"/>
      </geometry>
      <material name="KitchenDarkGray"/>
    </visual>
    <collision>
      <origin rpy="0 0 0" xyz="-0.54 0 0"/>
      <geometry>
        <box size="0.02 0.5 0.53"/>
      </geometry>
    </collision>
  </link>
  <gazebo reference="drawer_sink_col3_bottom_back_link">
    <material value="Ias/KitchenLightGray"/>
  </gazebo>
  <joint name="drawer_sink_col3_bottom_bottom_fixed_joint" type="fixed">
    <origin rpy="0 0 0" xyz="0 0 0"/>
    <parent link="drawer_sink_col3_bottom_link"/>
    <child link="drawer_sink_col3_bottom_bottom_link"/>
  </joint>
  <link name="drawer_sink_col3_bottom_bottom_link">
    <inertial>
      <mass value="1.0"/>
      <inertia ixx="0.0208666666667" ixy="0" ixz="0" iyy="0.0451333333333" iyz="0" izz="0.0243333333333"/>
    </inertial>
    <visual>
      <origin rpy="0 0 0" xyz="-0.27 0 -0.255"/>
      <geometry>
        <box size="0.54 0.5 0.02"/>
      </geometry>
      <material name="KitchenDarkGray"/>
    </visual>
    <collision>
      <origin rpy="0 0 0" xyz="-0.27 0 -0.255"/>
      <geometry>
        <box size="0.54 0.5 0.02"/>
      </geometry>
    </collision>
  </link>
  <gazebo reference="drawer_sink_col3_bottom_bottom_link">
    <material value="Ias/KitchenLightGray"/>
  </gazebo>
  <joint name="drawer_sink_col3_bottom_handle_drawer_sink_col3_bottom_joint" type="fixed">
    <origin rpy="0 0 0" xyz="0.0625 0.0 0.2375"/>
    <parent link="drawer_sink_col3_bottom_link"/>
    <child link="handle_drawer_sink_col3_bottom_link"/>
  </joint>
  <link name="handle_drawer_sink_col3_bottom_link">
    <inertial>
      <mass value="0.1"/>
      <inertia ixx="0.00212604166667" ixy="0" ixz="0" iyy="0.00212604166667" iyz="0" izz="1.66666666667e-06"/>
    </inertial>
    <visual>
      <origin rpy="0 0 0" xyz="0 0 0"/>
      <geometry>
        <box size="0.01 0.505 0.01"/>
      </geometry>
      <material name="KitchenDarkGray"/>
    </visual>
    <collision>
      <origin rpy="0 0 0" xyz="0 0 0"/>
      <geometry>
        <box size="0.015 0.51 0.015"/>
      </geometry>
    </collision>
  </link>
  <gazebo reference="handle_drawer_sink_col3_bottom_link">
    <material value="Ias/KitchenDarkGray"/>
  </gazebo>
  <joint name="sink_block_drawer_sink_col3_top_fixed_joint" type="fixed">
    <origin rpy="0 0 0" xyz="0.57 1.73 0.75"/>
    <parent link="sink_block_link"/>
    <child link="drawer_sink_col3_top_fixed_link"/>
  </joint>
  <link name="drawer_sink_col3_top_fixed_link">
    <inertial>
      <mass value="1"/>
      <inertia ixx="4e-07" ixy="0" ixz="0" iyy="4e-07" iyz="0" izz="4e-07"/>
    </inertial>
  </link>
  <joint name="sink_block_drawer_sink_col3_top_joint" type="prismatic">
    <origin rpy="0 0 0" xyz="0 0 0"/>
    <parent link="drawer_sink_col3_top_fixed_link"/>
    <child link="drawer_sink_col3_top_link"/>
    <axis xyz="0.999 0 0.044"/>
    <!-- the axis needs to be slightly tilted so that the drawers would stay closed in Gazebo-->
    <limit effort="300" lower="0" upper="0.48" velocity="10"/>
  </joint>
  <gazebo reference="sink_block_drawer_sink_col3_top_joint">
    <erp>0.8</erp>
    <cfm>0.0000001</cfm>
    <stopKp>1000000.0</stopKp>
    <stopKd>1.0</stopKd>
  </gazebo>
  <link name="drawer_sink_col3_top_link">
    <inertial>
      <mass value="1.0"/>
      <inertia ixx="0.0316333333333" ixy="0" ixz="0" iyy="0.0300333333333" iyz="0" izz="0.00166666666667"/>
    </inertial>
    <visual>
      <origin rpy="0 0 0" xyz="0 0 0"/>
      <geometry>
        <box size="0.02 0.595 0.135"/>
      </geometry>
      <material name="KitchenLightGray"/>
    </visual>
    <collision>
      <origin rpy="0 0 0" xyz="0 0 0"/>
      <geometry>
        <box size="0.02 0.6 0.14"/>
      </geometry>
    </collision>
  </link>
  <gazebo reference="drawer_sink_col3_top_link">
    <material value="Ias/KitchenLightGray"/>
  </gazebo>
  <joint name="drawer_sink_col3_top_left_fixed_joint" type="fixed">
    <origin rpy="0 0 0" xyz="0 0 0"/>
    <parent link="drawer_sink_col3_top_link"/>
    <child link="drawer_sink_col3_top_left_link"/>
  </joint>
  <link name="drawer_sink_col3_top_left_link">
    <inertial>
      <mass value="1.0"/>
      <inertia ixx="0.000708333333333" ixy="0" ixz="0" iyy="0.0243333333333" iyz="0" izz="0.024975"/>
    </inertial>
    <visual>
      <origin rpy="0 0 0" xyz="-0.27 -0.24 0"/>
      <geometry>
        <box size="0.54 0.02 0.09"/>
      </geometry>
      <material name="KitchenDarkGray"/>
    </visual>
    <collision>
      <origin rpy="0 0 0" xyz="-0.27 -0.24 0"/>
      <geometry>
        <box size="0.54 0.02 0.09"/>
      </geometry>
    </collision>
  </link>
  <gazebo reference="drawer_sink_col3_top_left_link">
    <material value="Ias/KitchenLightGray"/>
  </gazebo>
  <joint name="drawer_sink_col3_top_right_fixed_joint" type="fixed">
    <origin rpy="0 0 0" xyz="0 0 0"/>
    <parent link="drawer_sink_col3_top_link"/>
    <child link="drawer_sink_col3_top_right_link"/>
  </joint>
  <link name="drawer_sink_col3_top_right_link">
    <inertial>
      <mass value="1.0"/>
      <inertia ixx="0.000708333333333" ixy="0" ixz="0" iyy="0.0243333333333" iyz="0" izz="0.024975"/>
    </inertial>
    <visual>
      <origin rpy="0 0 0" xyz="-0.27 0.24 0"/>
      <geometry>
        <box size="0.54 0.02 0.09"/>
      </geometry>
      <material name="KitchenDarkGray"/>
    </visual>
    <collision>
      <origin rpy="0 0 0" xyz="-0.27 0.24 0"/>
      <geometry>
        <box size="0.54 0.02 0.09"/>
      </geometry>
    </collision>
  </link>
  <gazebo reference="drawer_sink_col3_top_right_link">
    <material value="Ias/KitchenLightGray"/>
  </gazebo>
  <joint name="drawer_sink_col3_top_back_fixed_joint" type="fixed">
    <origin rpy="0 0 0" xyz="0 0 0"/>
    <parent link="drawer_sink_col3_top_link"/>
    <child link="drawer_sink_col3_top_back_link"/>
  </joint>
  <link name="drawer_sink_col3_top_back_link">
    <inertial>
      <mass value="1.0"/>
      <inertia ixx="0.0215083333333" ixy="0" ixz="0" iyy="0.0208666666667" iyz="0" izz="0.000708333333333"/>
    </inertial>
    <visual>
      <origin rpy="0 0 0" xyz="-0.54 0 0"/>
      <geometry>
        <box size="0.02 0.5 0.09"/>
      </geometry>
      <material name="KitchenDarkGray"/>
    </visual>
    <collision>
      <origin rpy="0 0 0" xyz="-0.54 0 0"/>
      <geometry>
        <box size="0.02 0.5 0.09"/>
      </geometry>
    </collision>
  </link>
  <gazebo reference="drawer_sink_col3_top_back_link">
    <material value="Ias/KitchenLightGray"/>
  </gazebo>
  <joint name="drawer_sink_col3_top_bottom_fixed_joint" type="fixed">
    <origin rpy="0 0 0" xyz="0 0 0"/>
    <parent link="drawer_sink_col3_top_link"/>
    <child link="drawer_sink_col3_top_bottom_link"/>
  </joint>
  <link name="drawer_sink_col3_top_bottom_link">
    <inertial>
      <mass value="1.0"/>
      <inertia ixx="0.0208666666667" ixy="0" ixz="0" iyy="0.0451333333333" iyz="0" izz="0.0243333333333"/>
    </inertial>
    <visual>
      <origin rpy="0 0 0" xyz="-0.27 0 -0.035"/>
      <geometry>
        <box size="0.54 0.5 0.02"/>
      </geometry>
      <material name="KitchenDarkGray"/>
    </visual>
    <collision>
      <origin rpy="0 0 0" xyz="-0.27 0 -0.035"/>
      <geometry>
        <box size="0.54 0.5 0.02"/>
      </geometry>
    </collision>
  </link>
  <gazebo reference="drawer_sink_col3_top_bottom_link">
    <material value="Ias/KitchenLightGray"/>
  </gazebo>
  <joint name="drawer_sink_col3_top_handle_drawer_sink_col3_top_joint" type="fixed">
    <origin rpy="0 0 0" xyz="0.0625 0.0 0.0175"/>
    <parent link="drawer_sink_col3_top_link"/>
    <child link="handle_drawer_sink_col3_top_link"/>
  </joint>
  <link name="handle_drawer_sink_col3_top_link">
    <inertial>
      <mass value="0.1"/>
      <inertia ixx="0.00212604166667" ixy="0" ixz="0" iyy="0.00212604166667" iyz="0" izz="1.66666666667e-06"/>
    </inertial>
    <visual>
      <origin rpy="0 0 0" xyz="0 0 0"/>
      <geometry>
        <box size="0.01 0.505 0.01"/>
      </geometry>
      <material name="KitchenDarkGray"/>
    </visual>
    <collision>
      <origin rpy="0 0 0" xyz="0 0 0"/>
      <geometry>
        <box size="0.015 0.51 0.015"/>
      </geometry>
    </collision>
  </link>
  <gazebo reference="handle_drawer_sink_col3_top_link">
    <material value="Ias/KitchenDarkGray"/>
  </gazebo>
  <joint name="sink_block_skirting_sink_joint" type="fixed">
    <origin rpy="0 0 0" xyz="0.255 1.03 0.05"/>
    <parent link="sink_block_link"/>
    <child link="skirting_sink_link"/>
  </joint>
  <link name="skirting_sink_link">
    <inertial>
      <mass value="10"/>
      <inertia ixx="3.34166666667" ixy="0" ixz="0" iyy="3.55008333333" iyz="0" izz="0.225083333333"/>
    </inertial>
    <visual>
      <origin rpy="0 0 0" xyz="0 0 0"/>
      <geometry>
        <box size="0.51 2.0 0.1"/>
      </geometry>
      <material name="KitchenDarkGray"/>
    </visual>
    <collision>
      <origin rpy="0 0 0" xyz="0 0 0"/>
      <geometry>
        <box size="0.51 2.0 0.1"/>
      </geometry>
    </collision>
  </link>
  <gazebo reference="skirting_sink_link">
    <material value="Ias/KitchenDarkGray"/>
  </gazebo>
  <joint name="sink_block_joint" type="fixed">
    <origin rpy="0 0 0" xyz="-5.29 -5.65 0"/>
    <parent link="kitchen_link"/>
    <child link="sink_block_link"/>
  </joint>
  <link name="sink_block_link">
    <inertial>
      <mass value="0"/>
      <inertia ixx="0.0" ixy="0" ixz="0" iyy="0.0" iyz="0" izz="0.0"/>
    </inertial>
    <visual>
      <origin rpy="0 0 0" xyz="0 0 0"/>
      <geometry>
        <box size=".1 .1 .1"/>
      </geometry>
    </visual>
  </link>
  <joint name="fridge_block_counter_top_fridge_joint" type="fixed">
    <origin rpy="0 0 0" xyz="0.29 0.3 1.495"/>
    <parent link="fridge_block_link"/>
    <child link="counter_top_fridge_link"/>
  </joint>
  <link name="counter_top_fridge_link">
    <inertial>
      <mass value="2.0"/>
      <inertia ixx="0.06015" ixy="0" ixz="0" iyy="0.116066666667" iyz="0" izz="0.0562166666667"/>
    </inertial>
    <visual>
      <origin rpy="0 0 0" xyz="0 0 0"/>
      <geometry>
        <box size="0.58 0.6 0.03"/>
      </geometry>
      <material name="KitchenDarkGray"/>
    </visual>
    <collision>
      <origin rpy="0 0 0" xyz="0 0 0"/>
      <geometry>
        <box size="0.58 0.6 0.03"/>
      </geometry>
    </collision>
  </link>
  <gazebo reference="counter_top_fridge_link">
    <kp>100000</kp>
    <kd>1000000</kd>
    <mu1>50000</mu1>
    <mu2>50000</mu2>
    <material value="Ias/KitchenDarkGray"/>
  </gazebo>
  <joint name="fridge_block_counter_side_fridge_left_joint" type="fixed">
    <origin rpy="0 0 0" xyz="0.29 0.01 0.815"/>
    <parent link="fridge_block_link"/>
    <child link="counter_side_fridge_left_link"/>
  </joint>
  <link name="counter_side_fridge_left_link">
    <inertial>
      <mass value="2.0"/>
      <inertia ixx="0.294883333333" ixy="0" ixz="0" iyy="0.0561333333333" iyz="0" izz="0.350883333333"/>
    </inertial>
    <visual>
      <origin rpy="0 0 0" xyz="0 0 0"/>
      <geometry>
        <box size="0.58 0.02 1.33"/>
      </geometry>
      <material name="KitchenDarkGray"/>
    </visual>
    <collision>
      <origin rpy="0 0 0" xyz="0 0 0"/>
      <geometry>
        <box size="0.58 0.02 1.33"/>
      </geometry>
    </collision>
  </link>
  <gazebo reference="counter_side_fridge_left_link">
    <material value="Ias/KitchenDarkGray"/>
  </gazebo>
  <joint name="fridge_block_counter_side_fridge_right_joint" type="fixed">
    <origin rpy="0 0 0" xyz="0.29 0.59 0.815"/>
    <parent link="fridge_block_link"/>
    <child link="counter_side_fridge_right_link"/>
  </joint>
  <link name="counter_side_fridge_right_link">
    <inertial>
      <mass value="2.0"/>
      <inertia ixx="0.294883333333" ixy="0" ixz="0" iyy="0.0561333333333" iyz="0" izz="0.350883333333"/>
    </inertial>
    <visual>
      <origin rpy="0 0 0" xyz="0 0 0"/>
      <geometry>
        <box size="0.58 0.02 1.33"/>
      </geometry>
      <material name="KitchenDarkGray"/>
    </visual>
    <collision>
      <origin rpy="0 0 0" xyz="0 0 0"/>
      <geometry>
        <box size="0.58 0.02 1.33"/>
      </geometry>
    </collision>
  </link>
  <gazebo reference="counter_side_fridge_right_link">
    <material value="Ias/KitchenDarkGray"/>
  </gazebo>
  <joint name="fridge_block_counter_bottom_fridge_joint" type="fixed">
    <origin rpy="0 0 0" xyz="0.2875 0.3 0.515"/>
    <parent link="fridge_block_link"/>
    <child link="counter_bottom_fridge_link"/>
  </joint>
  <link name="counter_bottom_fridge_link">
    <inertial>
      <mass value="2.0"/>
      <inertia ixx="0.06015" ixy="0" ixz="0" iyy="0.115104166667" iyz="0" izz="0.0552541666667"/>
    </inertial>
    <visual>
      <origin rpy="0 0 0" xyz="0 0 0"/>
      <geometry>
        <box size="0.575 0.6 0.03"/>
      </geometry>
      <material name="KitchenWhite"/>
    </visual>
    <collision>
      <origin rpy="0 0 0" xyz="0 0 0"/>
      <geometry>
        <box size="0.575 0.6 0.03"/>
      </geometry>
    </collision>
  </link>
  <gazebo reference="counter_bottom_fridge_link">
    <kp>100000</kp>
    <kd>1000000</kd>
    <mu1>50000</mu1>
    <mu2>50000</mu2>
    <material value="Ias/KitchenWhite"/>
  </gazebo>
  <joint name="fridge_block_counter_middle_fridge_joint" type="fixed">
    <origin rpy="0 0 0" xyz="0.2125 0.3 0.845"/>
    <parent link="fridge_block_link"/>
    <child link="counter_middle_fridge_link"/>
  </joint>
  <link name="counter_middle_fridge_link">
    <inertial>
      <mass value="2.0"/>
      <inertia ixx="0.06015" ixy="0" ixz="0" iyy="0.0901041666667" iyz="0" izz="0.0302541666667"/>
    </inertial>
    <visual>
      <origin rpy="0 0 0" xyz="0 0 0"/>
      <geometry>
        <box size="0.425 0.6 0.03"/>
      </geometry>
      <material name="KitchenWhite"/>
    </visual>
    <collision>
      <origin rpy="0 0 0" xyz="0 0 0"/>
      <geometry>
        <box size="0.425 0.6 0.03"/>
      </geometry>
    </collision>
  </link>
  <gazebo reference="counter_middle_fridge_link">
    <kp>100000</kp>
    <kd>1000000</kd>
    <mu1>50000</mu1>
    <mu2>50000</mu2>
    <material value="Ias/KitchenWhite"/>
  </gazebo>
  <joint name="fridge_block_drawer_fridge_bottom_fixed_joint" type="fixed">
    <origin rpy="0 0 0" xyz="0.57 0.3 0.3325"/>
    <parent link="fridge_block_link"/>
    <child link="drawer_fridge_bottom_fixed_link"/>
  </joint>
  <link name="drawer_fridge_bottom_fixed_link">
    <inertial>
      <mass value="1"/>
      <inertia ixx="4e-07" ixy="0" ixz="0" iyy="4e-07" iyz="0" izz="4e-07"/>
    </inertial>
  </link>
  <joint name="fridge_block_drawer_fridge_bottom_joint" type="prismatic">
    <origin rpy="0 0 0" xyz="0 0 0"/>
    <parent link="drawer_fridge_bottom_fixed_link"/>
    <child link="drawer_fridge_bottom_link"/>
    <axis xyz="0.999 0 0.044"/>
    <!-- the axis needs to be slightly tilted so that the drawers would stay closed in Gazebo-->
    <limit effort="300" lower="0" upper="0.48" velocity="10"/>
  </joint>
  <gazebo reference="fridge_block_drawer_fridge_bottom_joint">
    <erp>0.8</erp>
    <cfm>0.0000001</cfm>
    <stopKp>1000000.0</stopKp>
    <stopKd>1.0</stopKd>
  </gazebo>
  <link name="drawer_fridge_bottom_link">
    <inertial>
      <mass value="1.0"/>
      <inertia ixx="0.0377041666667" ixy="0" ixz="0" iyy="0.0266354166667" iyz="0" izz="0.0111354166667"/>
    </inertial>
    <visual>
      <origin rpy="0 0 0" xyz="0 0 0"/>
      <geometry>
        <box size="0.02 0.56 0.36"/>
      </geometry>
      <material name="KitchenLightGray"/>
    </visual>
    <collision>
      <origin rpy="0 0 0" xyz="0 0 0"/>
      <geometry>
        <box size="0.02 0.565 0.365"/>
      </geometry>
    </collision>
  </link>
  <gazebo reference="drawer_fridge_bottom_link">
    <material value="Ias/KitchenLightGray"/>
  </gazebo>
  <joint name="drawer_fridge_bottom_left_fixed_joint" type="fixed">
    <origin rpy="0 0 0" xyz="0 0 0"/>
    <parent link="drawer_fridge_bottom_link"/>
    <child link="drawer_fridge_bottom_left_link"/>
  </joint>
  <link name="drawer_fridge_bottom_left_link">
    <inertial>
      <mass value="1.0"/>
      <inertia ixx="0.00830208333333" ixy="0" ixz="0" iyy="0.0243333333333" iyz="0" izz="0.03256875"/>
    </inertial>
    <visual>
      <origin rpy="0 0 0" xyz="-0.27 -0.2225 0"/>
      <geometry>
        <box size="0.54 0.02 0.315"/>
      </geometry>
      <material name="KitchenDarkGray"/>
    </visual>
    <collision>
      <origin rpy="0 0 0" xyz="-0.27 -0.2225 0"/>
      <geometry>
        <box size="0.54 0.02 0.315"/>
      </geometry>
    </collision>
  </link>
  <gazebo reference="drawer_fridge_bottom_left_link">
    <material value="Ias/KitchenLightGray"/>
  </gazebo>
  <joint name="drawer_fridge_bottom_right_fixed_joint" type="fixed">
    <origin rpy="0 0 0" xyz="0 0 0"/>
    <parent link="drawer_fridge_bottom_link"/>
    <child link="drawer_fridge_bottom_right_link"/>
  </joint>
  <link name="drawer_fridge_bottom_right_link">
    <inertial>
      <mass value="1.0"/>
      <inertia ixx="0.00830208333333" ixy="0" ixz="0" iyy="0.0243333333333" iyz="0" izz="0.03256875"/>
    </inertial>
    <visual>
      <origin rpy="0 0 0" xyz="-0.27 0.2225 0"/>
      <geometry>
        <box size="0.54 0.02 0.315"/>
      </geometry>
      <material name="KitchenDarkGray"/>
    </visual>
    <collision>
      <origin rpy="0 0 0" xyz="-0.27 0.2225 0"/>
      <geometry>
        <box size="0.54 0.02 0.315"/>
      </geometry>
    </collision>
  </link>
  <gazebo reference="drawer_fridge_bottom_right_link">
    <material value="Ias/KitchenLightGray"/>
  </gazebo>
  <joint name="drawer_fridge_bottom_back_fixed_joint" type="fixed">
    <origin rpy="0 0 0" xyz="0 0 0"/>
    <parent link="drawer_fridge_bottom_link"/>
    <child link="drawer_fridge_bottom_back_link"/>
  </joint>
  <link name="drawer_fridge_bottom_back_link">
    <inertial>
      <mass value="1.0"/>
      <inertia ixx="0.0262875" ixy="0" ixz="0" iyy="0.0180520833333" iyz="0" izz="0.00830208333333"/>
    </inertial>
    <visual>
      <origin rpy="0 0 0" xyz="-0.54 0 0"/>
      <geometry>
        <box size="0.02 0.465 0.315"/>
      </geometry>
      <material name="KitchenDarkGray"/>
    </visual>
    <collision>
      <origin rpy="0 0 0" xyz="-0.54 0 0"/>
      <geometry>
        <box size="0.02 0.465 0.315"/>
      </geometry>
    </collision>
  </link>
  <gazebo reference="drawer_fridge_bottom_back_link">
    <material value="Ias/KitchenLightGray"/>
  </gazebo>
  <joint name="drawer_fridge_bottom_bottom_fixed_joint" type="fixed">
    <origin rpy="0 0 0" xyz="0 0 0"/>
    <parent link="drawer_fridge_bottom_link"/>
    <child link="drawer_fridge_bottom_bottom_link"/>
  </joint>
  <link name="drawer_fridge_bottom_bottom_link">
    <inertial>
      <mass value="1.0"/>
      <inertia ixx="0.0180520833333" ixy="0" ixz="0" iyy="0.04231875" iyz="0" izz="0.0243333333333"/>
    </inertial>
    <visual>
      <origin rpy="0 0 0" xyz="-0.27 0 -0.1475"/>
      <geometry>
        <box size="0.54 0.465 0.02"/>
      </geometry>
      <material name="KitchenDarkGray"/>
    </visual>
    <collision>
      <origin rpy="0 0 0" xyz="-0.27 0 -0.1475"/>
      <geometry>
        <box size="0.54 0.465 0.02"/>
      </geometry>
    </collision>
  </link>
  <gazebo reference="drawer_fridge_bottom_bottom_link">
    <material value="Ias/KitchenLightGray"/>
  </gazebo>
  <joint name="drawer_fridge_bottom_handle_drawer_fridge_bottom_joint" type="fixed">
    <origin rpy="0 0 0" xyz="0.0625 0.0 0.13"/>
    <parent link="drawer_fridge_bottom_link"/>
    <child link="handle_drawer_fridge_bottom_link"/>
  </joint>
  <link name="handle_drawer_fridge_bottom_link">
    <inertial>
      <mass value="0.1"/>
      <inertia ixx="0.00184166666667" ixy="0" ixz="0" iyy="0.00184166666667" iyz="0" izz="1.66666666667e-06"/>
    </inertial>
    <visual>
      <origin rpy="0 0 0" xyz="0 0 0"/>
      <geometry>
        <box size="0.01 0.47 0.01"/>
      </geometry>
      <material name="KitchenDarkGray"/>
    </visual>
    <collision>
      <origin rpy="0 0 0" xyz="0 0 0"/>
      <geometry>
        <box size="0.015 0.475 0.015"/>
      </geometry>
    </collision>
  </link>
  <gazebo reference="handle_drawer_fridge_bottom_link">
    <material value="Ias/KitchenDarkGray"/>
  </gazebo>
  <joint name="fridge_block_fridge_fixed_joint" type="fixed">
    <origin rpy="0 0 0" xyz="0.58 0.6 0.995"/>
    <parent link="fridge_block_link"/>
    <child link="fridge_fixed_link"/>
  </joint>
  <link name="fridge_fixed_link">
    <inertial>
      <mass value="0.1"/>
      <inertia ixx="4e-08" ixy="0" ixz="0" iyy="4e-08" iyz="0" izz="4e-08"/>
    </inertial>
  </link>
  <joint name="fridge_block_fridge_joint" type="revolute">
    <origin rpy="0 0 0" xyz="0 0 0"/>
    <parent link="fridge_fixed_link"/>
    <child link="fridge_link"/>
    <axis xyz="0 0 1"/>
    <limit effort="300" lower="0" upper="1.3" velocity="10"/>
  </joint>
  <link name="fridge_link">
    <inertial>
      <mass value="1.0"/>
      <inertia ixx="0.107104166667" ixy="0" ixz="0" iyy="0.0295041666667" iyz="0" izz="0.0776041666667"/>
    </inertial>
    <visual>
      <origin rpy="0 0 0" xyz="-0.005 -0.3 0"/>
      <geometry>
        <box size="0.005 0.595 0.965"/>
      </geometry>
      <material name="KitchenLightGray"/>
    </visual>
    <collision>
      <origin rpy="0 0 0" xyz="-0.005 -0.3 0"/>
      <geometry>
        <box size="0.01 0.6 0.97"/>
      </geometry>
    </collision>
  </link>
  <gazebo reference="fridge_link">
    <material value="Ias/KitchenLightGray"/>
  </gazebo>
  <joint name="fridge_handle_fridge_joint" type="fixed">
    <origin rpy="0 0 0" xyz="0.0625 -0.57 0.0"/>
    <parent link="fridge_link"/>
    <child link="handle_fridge_link"/>
  </joint>
  <link name="handle_fridge_link">
    <inertial>
      <mass value="0.1"/>
      <inertia ixx="0.00638104166667" ixy="0" ixz="0" iyy="1.66666666667e-06" iyz="0" izz="0.00638104166667"/>
    </inertial>
    <visual>
      <origin rpy="0 0 0" xyz="0 0 0"/>
      <geometry>
        <box size="0.01 0.01 0.875"/>
      </geometry>
      <material name="KitchenDarkGray"/>
    </visual>
    <collision>
      <origin rpy="0 0 0" xyz="0 0 0"/>
      <geometry>
        <box size="0.015 0.015 0.88"/>
      </geometry>
    </collision>
  </link>
  <gazebo reference="handle_fridge_link">
    <material value="Ias/KitchenDarkGray"/>
  </gazebo>
  <joint name="fridge_block_skirting_fridge_joint" type="fixed">
    <origin rpy="0 0 0" xyz="0.255 0.3 0.075"/>
    <parent link="fridge_block_link"/>
    <child link="skirting_fridge_link"/>
  </joint>
  <link name="skirting_fridge_link">
    <inertial>
      <mass value="10"/>
      <inertia ixx="0.31875" ixy="0" ixz="0" iyy="0.51675" iyz="0" izz="0.2355"/>
    </inertial>
    <visual>
      <origin rpy="0 0 0" xyz="0 0 0"/>
      <geometry>
        <box size="0.51 0.6 0.15"/>
      </geometry>
      <material name="KitchenDarkGray"/>
    </visual>
    <collision>
      <origin rpy="0 0 0" xyz="0 0 0"/>
      <geometry>
        <box size="0.51 0.6 0.15"/>
      </geometry>
    </collision>
  </link>
  <gazebo reference="skirting_fridge_link">
    <material value="Ias/KitchenDarkGray"/>
  </gazebo>
  <joint name="fridge_block_joint" type="fixed">
    <origin rpy="0 0 0" xyz="-5.29 -3.59 0"/>
    <parent link="kitchen_link"/>
    <child link="fridge_block_link"/>
  </joint>
  <link name="fridge_block_link">
    <inertial>
      <mass value="0"/>
      <inertia ixx="0.0" ixy="0" ixz="0" iyy="0.0" iyz="0" izz="0.0"/>
    </inertial>
    <visual>
      <origin rpy="0 0 0" xyz="0 0 0"/>
      <geometry>
        <box size=".1 .1 .1"/>
      </geometry>
    </visual>
  </link>
  
  
  <joint name="kitchen_wall_north_joint" type="fixed">
    <origin rpy="0 0 0" xyz="0 0 1.0"/>
    <parent link="kitchen_link"/>
    <child link="kitchen_wall_north"/>
  </joint>
  
   <link name="kitchen_wall_north">
    <inertial>
      <mass value="0"/>
      <inertia ixx="0.0" ixy="0" ixz="0" iyy="0.0" iyz="0" izz="0.0"/>
    </inertial>
    <visual>
      <origin rpy="0 0 0" xyz="-2.82 -2.55 0.0"/>
      <geometry>
        <box size="5 0.01 2.0"/>
      </geometry>
      <material name="KitchenWallWhite"/>
    </visual>
    <collision>
      <origin rpy="0 0 0" xyz="-2.82 -2.55 0.0"/>
      <geometry>
        <box size="5 0.01 2.0"/>
      </geometry>
    </collision>
  </link>
  <gazebo reference="kitchen_wall_north">
    <material value="Ias/KitchenWallWhite"/>
  </gazebo>
  
  <joint name="kitchen_wall_south_joint" type="fixed">
    <origin rpy="0 0 0" xyz="0 0 1.0"/>
    <parent link="kitchen_link"/>
    <child link="kitchen_wall_south"/>
  </joint>
  
   <link name="kitchen_wall_south">
    <inertial>
      <mass value="0"/>
      <inertia ixx="0.0" ixy="0" ixz="0" iyy="0.0" iyz="0" izz="0.0"/>
    </inertial>
    <visual>
      <origin rpy="0 0 0" xyz="-2.80 -7.52 0"/>
      <geometry>
        <box size="5.0 0.01 2.0"/>
      </geometry>
      <material name="KitchenWallWhite"/>
    </visual>
    <collision>
      <origin rpy="0 0 0" xyz="-2.80 -7.52 0"/>
      <geometry>
        <box size="5.0 0.01 2.0"/>
      </geometry>
    </collision>
  </link>
  <gazebo reference="kitchen_wall_south">
    <material value="Ias/KitchenWallWhite"/>
  </gazebo>
  
  <joint name="kitchen_wall_west_joint" type="fixed">
    <origin rpy="0 0 0" xyz="-1.5 -3.17 1.0"/>
    <parent link="kitchen_link"/>
    <child link="kitchen_wall_west"/>
  </joint>
  
  <link name="kitchen_wall_west">
    <inertial>
      <mass value="0"/>
      <inertia ixx="0.0" ixy="0" ixz="0" iyy="0.0" iyz="0" izz="0.0"/>
    </inertial>
    <visual>
      <origin rpy="0 0 1.57" xyz="-3.80 -1.85 0"/>
      <geometry>
        <box size="4.95 0.01 2.0"/>
      </geometry>
      <material name="KitchenWallWhite"/>
    </visual>
    <collision>
      <origin rpy="0 0 1.57" xyz="-3.80 -1.85 0"/>
      <geometry>
        <box size="4.95 0.01 2.0"/>
      </geometry>
    </collision>
  </link>
  <gazebo reference="kitchen_wall_south">
    <material value="Ias/KitchenWallWhite"/>
  </gazebo>
  
  <joint name="kitchen_wall_east_1_joint" type="fixed">
    <origin rpy="0 0 0" xyz="0 0 1.0"/>
    <parent link="kitchen_link"/>
    <child link="kitchen_wall_east_1"/>
  </joint>
  
  <link name="kitchen_wall_east_1">
    <inertial>
      <mass value="0"/>
      <inertia ixx="0.0" ixy="0" ixz="0" iyy="0.0" iyz="0" izz="0.0"/>
    </inertial>
    <visual>
      <origin rpy="0 0 1.57" xyz="-0.3 -5.0 0.0"/>
      <geometry>
        <box size="5.01 0.01 2.0"/>
      </geometry>
      <material name="KitchenWallWhite"/>
    </visual>
    <collision>
      <origin rpy="0 0 1.57" xyz="-0.3 -5.0 0.0"/>
      <geometry>
        <box size="5.01 0.01 2.0"/>
      </geometry>
    </collision>
  </link>
  <gazebo reference="kitchen_wall_east_1">
    <material value="Ias/KitchenWallWhite"/>
  </gazebo>
  
  <!--<joint name="kitchen_wall_east_2_joint" type="fixed">
    <origin rpy="0 0 0" xyz="0 0 0"/>
    <parent link="kitchen_link"/>
    <child link="kitchen_wall_east_2"/>
  </joint>
  
  <link name="kitchen_wall_east_2">
    <inertial>
      <mass value="0"/>
      <inertia ixx="0.0" ixy="0" ixz="0" iyy="0.0" iyz="0" izz="0.0"/>
    </inertial>
    <visual>
      <origin rpy="0 0 1.57" xyz="-2.4 -1.85 0.37"/>
      <geometry>
        <box size="4.81 0.01 0.74"/>
      </geometry>
      <material name="KitchenWallWhite"/>
    </visual>
    <collision>
      <origin rpy="0 0 1.57" xyz="-2.4 -1.85 0.37"/>
      <geometry>
        <box size="4.81 0.01 0.74"/>
      </geometry>
    </collision>
  </link>
  <gazebo reference="kitchen_wall_east_2">
    <material value="Ias/KitchenWallWhite"/>
  </gazebo>-->
  
  <!--<gazebo>
   <plugin name="kitchen_plugin" filename=libKitchenFinalPlugin.so>
  	</plugin>
  </gazebo>-->
   
  <!--<table name="eating_table" parent="kitchen" block_pos="-1.7 -2.1 0" block_rpy="0 0 1.57" material="KitchenWhite"/>-->
  <!--    <chair name="eating_1" parent="kitchen" xyz="-1.35 -1.2 0" rpy="0 0 1.57"/>
    <chair name="eating_2" parent="kitchen" xyz="-1.35 -1.8 0" rpy="0 0 1.57"/>
    <chair name="eating_3" parent="kitchen" xyz="-2.65 -0.75 0" rpy="0 0 -1.57"/>
    <chair name="eating_4" parent="kitchen" xyz="-2.65 -1.35 0" rpy="0 0 -1.57"/>-->
</robot>
